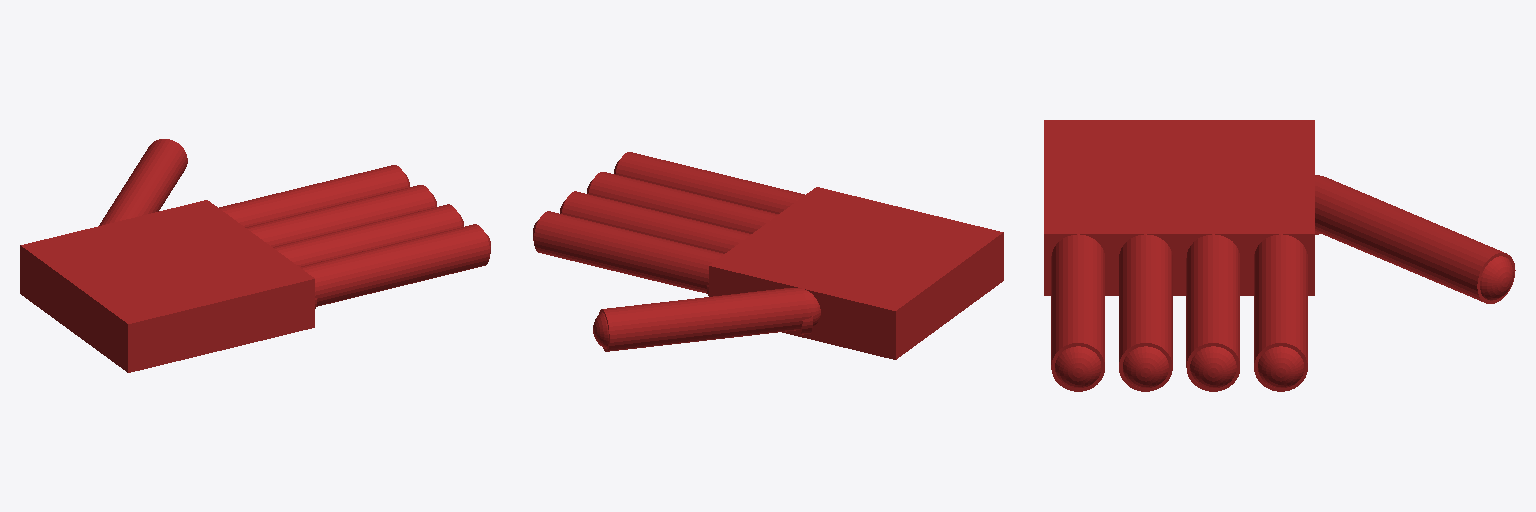
--- Render facts (derived) ---
3 views of the same robot in one strip: view 1: azimuth 30°, elevation 25°; view 2: azimuth 150°, elevation 25°; view 3: azimuth 270°, elevation 25° (orthographic).
Model starfish_test with 107 links and 106 joints (50 revolute, 56 fixed), rooted at base_link, posed every joint at zero.
Visible links, largest first — view 1: base_link0, Man0Act0Seg6, Man0Act0Seg8, Man0Act0Seg2, Man0Act0Seg4, Man0Act0Seg5, Man0Act0Seg9, Man0Act0Seg3, Man0Act0Seg7, Man0Act0Seg1; view 2: base_link0, Man4Act0Seg4, Man4Act0Seg2, Man4Act0Seg3, Man4Act0Seg7, Man4Act0Seg8, Man4Act0Seg5, Man4Act0Seg9, Man4Act0Seg6, Man4Act0Seg1, Man3Act0Seg6, Man3Act0Seg8 (+7 smaller); view 3: base_link0, Man2Act0Seg10helper_shape, Man0Act0Seg10helper_shape, Man1Act0Seg10helper_shape, Man3Act0Seg10helper_shape, Man4Act0Seg10helper_shape, Man4Act0Seg6, Man4Act0Seg7, Man4Act0Seg4, Man4Act0Seg5, Man4Act0Seg2, Man4Act0Seg3 (+28 smaller).
Link boxes in pixels (left/top/right/bottom): base_link0: left=20, top=200, right=314, bottom=372; Man0Act0Seg6: left=391, top=240, right=424, bottom=285; Man0Act0Seg8: left=429, top=231, right=461, bottom=276; Man0Act0Seg2: left=317, top=258, right=349, bottom=303; Man0Act0Seg4: left=354, top=249, right=386, bottom=294; Man0Act0Seg5: left=375, top=245, right=405, bottom=290; Man0Act0Seg9: left=449, top=226, right=480, bottom=272; Man0Act0Seg3: left=337, top=254, right=368, bottom=299; Man0Act0Seg7: left=412, top=235, right=442, bottom=281; Man0Act0Seg1: left=300, top=263, right=330, bottom=306; base_link0: left=709, top=187, right=1003, bottom=359; Man4Act0Seg4: left=717, top=294, right=744, bottom=338; Man4Act0Seg2: left=759, top=289, right=786, bottom=333; Man4Act0Seg3: left=739, top=291, right=765, bottom=336; Man4Act0Seg7: left=655, top=301, right=682, bottom=345; Man4Act0Seg8: left=634, top=303, right=661, bottom=347; Man4Act0Seg5: left=696, top=296, right=723, bottom=340; Man4Act0Seg9: left=614, top=306, right=640, bottom=350; Man4Act0Seg6: left=676, top=298, right=703, bottom=343; Man4Act0Seg1: left=780, top=288, right=807, bottom=331; Man3Act0Seg6: left=599, top=227, right=632, bottom=272; Man3Act0Seg8: left=562, top=218, right=594, bottom=263; base_link0: left=1044, top=120, right=1314, bottom=295; Man2Act0Seg10helper_shape: left=1190, top=346, right=1236, bottom=387; Man0Act0Seg10helper_shape: left=1055, top=346, right=1101, bottom=387; Man1Act0Seg10helper_shape: left=1123, top=346, right=1168, bottom=387; Man3Act0Seg10helper_shape: left=1258, top=346, right=1303, bottom=387; Man4Act0Seg10helper_shape: left=1480, top=256, right=1513, bottom=300; Man4Act0Seg6: left=1391, top=216, right=1437, bottom=273; Man4Act0Seg7: left=1410, top=224, right=1456, bottom=282; Man4Act0Seg4: left=1353, top=200, right=1399, bottom=257; Man4Act0Seg5: left=1372, top=208, right=1418, bottom=265; Man4Act0Seg2: left=1315, top=184, right=1359, bottom=241; Man4Act0Seg3: left=1334, top=192, right=1380, bottom=249.
Size in the robot's own frame: 4 by 3.48 by 0.5 metres.
Geometry: primitives only (box / cylinder / sphere), no mesh files.

robot.urdf — starfish_test:
<?xml version='1.0' encoding='utf-8'?>
<robot name="starfish_test">
  <link name="base_link" />
  <link name="base_link0">
    <visual>
      <origin rpy="0 0 0" xyz="0.0 0.0 0.25" />
      <geometry>
        <box size="2 2 0.5" />
      </geometry>
      <material name="base_color">
        <color rgba="0.7 0.2 0.2 1" />
      </material>
    </visual>
    <collision>
      <origin rpy="0 0 0" xyz="0.0 0.0 0.25" />
      <geometry>
        <box size="2 2 0.5" />
      </geometry>
    </collision>
    <inertial>
      <mass value="1.0" />
      <inertia ixx="1" ixy="0" ixz="0" iyy="1" iyz="0" izz="1" />
    </inertial>
  </link>
  <joint name="base_link_to_base_link0_fixed" type="fixed">
    <parent link="base_link" />
    <child link="base_link0" />
    <origin rpy="0 0 0" xyz="0 0 0" />
    <axis xyz="1 0 0" />
  </joint>
  <link name="Man0Act0Seg0">
    <visual>
      <origin rpy="0.0 1.5707963267948966 0.0" xyz="1.0 -0.75 0.05" />
      <geometry>
        <cylinder length="0.1" radius="0.2" />
      </geometry>
      <material name="purple">
        <color rgba="0.7 0.2 0.2 1" />
      </material>
    </visual>
    <collision>
      <origin rpy="0.0 1.5707963267948966 0.0" xyz="1.0 -0.75 0.05" />
      <geometry>
        <cylinder length="0.1" radius="0.2" />
      </geometry>
    </collision>
    <inertial>
      <mass value="0.00294" />
      <inertia ixx="0.0152488" ixy="0" ixz="0" iyy="0.0152488" iyz="0" izz="0.0152488" />
    </inertial>
  </link>
  <joint name="base_link_to_Man0Act0Seg0" type="fixed">
    <parent link="base_link" />
    <child link="Man0Act0Seg0" />
    <origin rpy="0.0 0.0 0.0" xyz="0.0 0.0 0.2" />
    <axis xyz="1 0 0" />
    <limit effort="100" lower="-3.141592" upper="3.141592" velocity="3" />
  </joint>
  <link name="Man0Act0Seg1">
    <visual>
      <origin rpy="0.0 0.0 0.0" xyz="0.0 0.0 0.1" />
      <geometry>
        <cylinder length="0.2" radius="0.2" />
      </geometry>
      <material name="purple">
        <color rgba="0.7 0.2 0.2 1" />
      </material>
    </visual>
    <collision>
      <origin rpy="0.0 0.0 0.0" xyz="0.0 0.0 0.1" />
      <geometry>
        <cylinder length="0.2" radius="0.2" />
      </geometry>
    </collision>
    <inertial>
      <mass value="0.00294" />
      <inertia ixx="0.0152488" ixy="0" ixz="0" iyy="0.0152488" iyz="0" izz="0.0152488" />
    </inertial>
  </link>
  <joint name="Man0Act0Seg0_to_Man0Act0Seg1_ax0" type="revolute">
    <parent link="Man0Act0Seg0" />
    <child link="Man0Act0Seg1" />
    <origin rpy="0.0 1.5707963267948966 0.0" xyz="1.0 -0.75 0.1" />
    <axis xyz="1 0 0" />
    <limit effort="100" lower="-3.141592" upper="3.141592" velocity="3" />
  </joint>
  <link name="Man0Act0Seg1helper_shape">
    <visual>
      <origin rpy="0 0 0" xyz="0 0 0.0" />
      <geometry>
        <sphere radius="0.2" />
      </geometry>
      <material name="purple">
        <color rgba="0.7 0.2 0.2 1" />
      </material>
    </visual>
    <collision>
      <origin rpy="0 0 0" xyz="0 0 0.0" />
      <geometry>
        <sphere radius="0.2" />
      </geometry>
    </collision>
    <inertial>
      <mass value="2.94e-06" />
      <inertia ixx="1.52488e-05" ixy="0.0" ixz="0.0" iyy="1.52488e-05" iyz="0.0" izz="1.52488e-05" />
    </inertial>
  </link>
  <joint name="Man0Act0Seg0_to_Man0Act0Seg1_ax0helper_shape" type="fixed">
    <parent link="Man0Act0Seg0" />
    <child link="Man0Act0Seg1helper_shape" />
    <origin rpy="0.0 1.5707963267948966 0.0" xyz="1.0 -0.75 0.1" />
    <axis xyz="1 0 0" />
  </joint>
  <link name="Man0Act0Seg2">
    <visual>
      <origin rpy="0 0 0" xyz="0 0 0.1" />
      <geometry>
        <cylinder length="0.2" radius="0.2" />
      </geometry>
      <material name="purple">
        <color rgba="0.7 0.2 0.2 1" />
      </material>
    </visual>
    <collision>
      <origin rpy="0 0 0" xyz="0 0 0.1" />
      <geometry>
        <cylinder length="0.2" radius="0.2" />
      </geometry>
    </collision>
    <inertial>
      <mass value="0.00294" />
      <inertia ixx="0.0152488" ixy="0" ixz="0" iyy="0.0152488" iyz="0" izz="0.0152488" />
    </inertial>
  </link>
  <joint name="Man0Act0Seg1_to_Man0Act0Seg2_ax1" type="revolute">
    <parent link="Man0Act0Seg1" />
    <child link="Man0Act0Seg2" />
    <origin rpy="0.0 0.0 0.0" xyz="0.0 0.0 0.2" />
    <axis xyz="0 1 0" />
    <limit effort="100" lower="-3.141592" upper="3.141592" velocity="3" />
  </joint>
  <link name="Man0Act0Seg2helper_shape">
    <visual>
      <origin rpy="0 0 0" xyz="0 0 0.0" />
      <geometry>
        <sphere radius="0.2" />
      </geometry>
      <material name="purple">
        <color rgba="0.7 0.2 0.2 1" />
      </material>
    </visual>
    <collision>
      <origin rpy="0 0 0" xyz="0 0 0.0" />
      <geometry>
        <sphere radius="0.2" />
      </geometry>
    </collision>
    <inertial>
      <mass value="2.94e-06" />
      <inertia ixx="1.52488e-05" ixy="0.0" ixz="0.0" iyy="1.52488e-05" iyz="0.0" izz="1.52488e-05" />
    </inertial>
  </link>
  <joint name="Man0Act0Seg1_to_Man0Act0Seg2_ax1helper_shape" type="fixed">
    <parent link="Man0Act0Seg1" />
    <child link="Man0Act0Seg2helper_shape" />
    <origin rpy="0.0 0.0 0.0" xyz="0.0 0.0 0.2" />
    <axis xyz="1 0 0" />
  </joint>
  <link name="Man0Act0Seg3">
    <visual>
      <origin rpy="0.0 0.0 0.0" xyz="0.0 0.0 0.1" />
      <geometry>
        <cylinder length="0.2" radius="0.2" />
      </geometry>
      <material name="purple">
        <color rgba="0.7 0.2 0.2 1" />
      </material>
    </visual>
    <collision>
      <origin rpy="0.0 0.0 0.0" xyz="0.0 0.0 0.1" />
      <geometry>
        <cylinder length="0.2" radius="0.2" />
      </geometry>
    </collision>
    <inertial>
      <mass value="0.00294" />
      <inertia ixx="0.0152488" ixy="0" ixz="0" iyy="0.0152488" iyz="0" izz="0.0152488" />
    </inertial>
  </link>
  <joint name="Man0Act0Seg2_to_Man0Act0Seg3_ax0" type="revolute">
    <parent link="Man0Act0Seg2" />
    <child link="Man0Act0Seg3" />
    <origin rpy="0.0 0.0 0.0" xyz="0.0 0.0 0.2" />
    <axis xyz="1 0 0" />
    <limit effort="100" lower="-3.141592" upper="3.141592" velocity="3" />
  </joint>
  <link name="Man0Act0Seg3helper_shape">
    <visual>
      <origin rpy="0 0 0" xyz="0 0 0.0" />
      <geometry>
        <sphere radius="0.2" />
      </geometry>
      <material name="purple">
        <color rgba="0.7 0.2 0.2 1" />
      </material>
    </visual>
    <collision>
      <origin rpy="0 0 0" xyz="0 0 0.0" />
      <geometry>
        <sphere radius="0.2" />
      </geometry>
    </collision>
    <inertial>
      <mass value="2.94e-06" />
      <inertia ixx="1.52488e-05" ixy="0.0" ixz="0.0" iyy="1.52488e-05" iyz="0.0" izz="1.52488e-05" />
    </inertial>
  </link>
  <joint name="Man0Act0Seg2_to_Man0Act0Seg3_ax0helper_shape" type="fixed">
    <parent link="Man0Act0Seg2" />
    <child link="Man0Act0Seg3helper_shape" />
    <origin rpy="0 0 0" xyz="0 0 0.2" />
    <axis xyz="1 0 0" />
  </joint>
  <link name="Man0Act0Seg4">
    <visual>
      <origin rpy="0 0 0" xyz="0 0 0.1" />
      <geometry>
        <cylinder length="0.2" radius="0.2" />
      </geometry>
      <material name="purple">
        <color rgba="0.7 0.2 0.2 1" />
      </material>
    </visual>
    <collision>
      <origin rpy="0 0 0" xyz="0 0 0.1" />
      <geometry>
        <cylinder length="0.2" radius="0.2" />
      </geometry>
    </collision>
    <inertial>
      <mass value="0.00294" />
      <inertia ixx="0.0152488" ixy="0" ixz="0" iyy="0.0152488" iyz="0" izz="0.0152488" />
    </inertial>
  </link>
  <joint name="Man0Act0Seg3_to_Man0Act0Seg4_ax1" type="revolute">
    <parent link="Man0Act0Seg3" />
    <child link="Man0Act0Seg4" />
    <origin rpy="0.0 0.0 0.0" xyz="0.0 0.0 0.2" />
    <axis xyz="0 1 0" />
    <limit effort="100" lower="-3.141592" upper="3.141592" velocity="3" />
  </joint>
  <link name="Man0Act0Seg4helper_shape">
    <visual>
      <origin rpy="0 0 0" xyz="0 0 0.0" />
      <geometry>
        <sphere radius="0.2" />
      </geometry>
      <material name="purple">
        <color rgba="0.7 0.2 0.2 1" />
      </material>
    </visual>
    <collision>
      <origin rpy="0 0 0" xyz="0 0 0.0" />
      <geometry>
        <sphere radius="0.2" />
      </geometry>
    </collision>
    <inertial>
      <mass value="2.94e-06" />
      <inertia ixx="1.52488e-05" ixy="0.0" ixz="0.0" iyy="1.52488e-05" iyz="0.0" izz="1.52488e-05" />
    </inertial>
  </link>
  <joint name="Man0Act0Seg3_to_Man0Act0Seg4_ax1helper_shape" type="fixed">
    <parent link="Man0Act0Seg3" />
    <child link="Man0Act0Seg4helper_shape" />
    <origin rpy="0.0 0.0 0.0" xyz="0.0 0.0 0.2" />
    <axis xyz="1 0 0" />
  </joint>
  <link name="Man0Act0Seg5">
    <visual>
      <origin rpy="0.0 0.0 0.0" xyz="0.0 0.0 0.1" />
      <geometry>
        <cylinder length="0.2" radius="0.2" />
      </geometry>
      <material name="purple">
        <color rgba="0.7 0.2 0.2 1" />
      </material>
    </visual>
    <collision>
      <origin rpy="0.0 0.0 0.0" xyz="0.0 0.0 0.1" />
      <geometry>
        <cylinder length="0.2" radius="0.2" />
      </geometry>
    </collision>
    <inertial>
      <mass value="0.00294" />
      <inertia ixx="0.0152488" ixy="0" ixz="0" iyy="0.0152488" iyz="0" izz="0.0152488" />
    </inertial>
  </link>
  <joint name="Man0Act0Seg4_to_Man0Act0Seg5_ax0" type="revolute">
    <parent link="Man0Act0Seg4" />
    <child link="Man0Act0Seg5" />
    <origin rpy="0.0 0.0 0.0" xyz="0.0 0.0 0.2" />
    <axis xyz="1 0 0" />
    <limit effort="100" lower="-3.141592" upper="3.141592" velocity="3" />
  </joint>
  <link name="Man0Act0Seg5helper_shape">
    <visual>
      <origin rpy="0 0 0" xyz="0 0 0.0" />
      <geometry>
        <sphere radius="0.2" />
      </geometry>
      <material name="purple">
        <color rgba="0.7 0.2 0.2 1" />
      </material>
    </visual>
    <collision>
      <origin rpy="0 0 0" xyz="0 0 0.0" />
      <geometry>
        <sphere radius="0.2" />
      </geometry>
    </collision>
    <inertial>
      <mass value="2.94e-06" />
      <inertia ixx="1.52488e-05" ixy="0.0" ixz="0.0" iyy="1.52488e-05" iyz="0.0" izz="1.52488e-05" />
    </inertial>
  </link>
  <joint name="Man0Act0Seg4_to_Man0Act0Seg5_ax0helper_shape" type="fixed">
    <parent link="Man0Act0Seg4" />
    <child link="Man0Act0Seg5helper_shape" />
    <origin rpy="0 0 0" xyz="0 0 0.2" />
    <axis xyz="1 0 0" />
  </joint>
  <link name="Man0Act0Seg6">
    <visual>
      <origin rpy="0 0 0" xyz="0 0 0.1" />
      <geometry>
        <cylinder length="0.2" radius="0.2" />
      </geometry>
      <material name="purple">
        <color rgba="0.7 0.2 0.2 1" />
      </material>
    </visual>
    <collision>
      <origin rpy="0 0 0" xyz="0 0 0.1" />
      <geometry>
        <cylinder length="0.2" radius="0.2" />
      </geometry>
    </collision>
    <inertial>
      <mass value="0.00294" />
      <inertia ixx="0.0152488" ixy="0" ixz="0" iyy="0.0152488" iyz="0" izz="0.0152488" />
    </inertial>
  </link>
  <joint name="Man0Act0Seg5_to_Man0Act0Seg6_ax1" type="revolute">
    <parent link="Man0Act0Seg5" />
    <child link="Man0Act0Seg6" />
    <origin rpy="0.0 0.0 0.0" xyz="0.0 0.0 0.2" />
    <axis xyz="0 1 0" />
    <limit effort="100" lower="-3.141592" upper="3.141592" velocity="3" />
  </joint>
  <link name="Man0Act0Seg6helper_shape">
    <visual>
      <origin rpy="0 0 0" xyz="0 0 0.0" />
      <geometry>
        <sphere radius="0.2" />
      </geometry>
      <material name="purple">
        <color rgba="0.7 0.2 0.2 1" />
      </material>
    </visual>
    <collision>
      <origin rpy="0 0 0" xyz="0 0 0.0" />
      <geometry>
        <sphere radius="0.2" />
      </geometry>
    </collision>
    <inertial>
      <mass value="2.94e-06" />
      <inertia ixx="1.52488e-05" ixy="0.0" ixz="0.0" iyy="1.52488e-05" iyz="0.0" izz="1.52488e-05" />
    </inertial>
  </link>
  <joint name="Man0Act0Seg5_to_Man0Act0Seg6_ax1helper_shape" type="fixed">
    <parent link="Man0Act0Seg5" />
    <child link="Man0Act0Seg6helper_shape" />
    <origin rpy="0.0 0.0 0.0" xyz="0.0 0.0 0.2" />
    <axis xyz="1 0 0" />
  </joint>
  <link name="Man0Act0Seg7">
    <visual>
      <origin rpy="0.0 0.0 0.0" xyz="0.0 0.0 0.1" />
      <geometry>
        <cylinder length="0.2" radius="0.2" />
      </geometry>
      <material name="purple">
        <color rgba="0.7 0.2 0.2 1" />
      </material>
    </visual>
    <collision>
      <origin rpy="0.0 0.0 0.0" xyz="0.0 0.0 0.1" />
      <geometry>
        <cylinder length="0.2" radius="0.2" />
      </geometry>
    </collision>
    <inertial>
      <mass value="0.00294" />
      <inertia ixx="0.0152488" ixy="0" ixz="0" iyy="0.0152488" iyz="0" izz="0.0152488" />
    </inertial>
  </link>
  <joint name="Man0Act0Seg6_to_Man0Act0Seg7_ax0" type="revolute">
    <parent link="Man0Act0Seg6" />
    <child link="Man0Act0Seg7" />
    <origin rpy="0.0 0.0 0.0" xyz="0.0 0.0 0.2" />
    <axis xyz="1 0 0" />
    <limit effort="100" lower="-3.141592" upper="3.141592" velocity="3" />
  </joint>
  <link name="Man0Act0Seg7helper_shape">
    <visual>
      <origin rpy="0 0 0" xyz="0 0 0.0" />
      <geometry>
        <sphere radius="0.2" />
      </geometry>
      <material name="purple">
        <color rgba="0.7 0.2 0.2 1" />
      </material>
    </visual>
    <collision>
      <origin rpy="0 0 0" xyz="0 0 0.0" />
      <geometry>
        <sphere radius="0.2" />
      </geometry>
    </collision>
    <inertial>
      <mass value="2.94e-06" />
      <inertia ixx="1.52488e-05" ixy="0.0" ixz="0.0" iyy="1.52488e-05" iyz="0.0" izz="1.52488e-05" />
    </inertial>
  </link>
  <joint name="Man0Act0Seg6_to_Man0Act0Seg7_ax0helper_shape" type="fixed">
    <parent link="Man0Act0Seg6" />
    <child link="Man0Act0Seg7helper_shape" />
    <origin rpy="0 0 0" xyz="0 0 0.2" />
    <axis xyz="1 0 0" />
  </joint>
  <link name="Man0Act0Seg8">
    <visual>
      <origin rpy="0 0 0" xyz="0 0 0.1" />
      <geometry>
        <cylinder length="0.2" radius="0.2" />
      </geometry>
      <material name="purple">
        <color rgba="0.7 0.2 0.2 1" />
      </material>
    </visual>
    <collision>
      <origin rpy="0 0 0" xyz="0 0 0.1" />
      <geometry>
        <cylinder length="0.2" radius="0.2" />
      </geometry>
    </collision>
    <inertial>
      <mass value="0.00294" />
      <inertia ixx="0.0152488" ixy="0" ixz="0" iyy="0.0152488" iyz="0" izz="0.0152488" />
    </inertial>
  </link>
  <joint name="Man0Act0Seg7_to_Man0Act0Seg8_ax1" type="revolute">
    <parent link="Man0Act0Seg7" />
    <child link="Man0Act0Seg8" />
    <origin rpy="0.0 0.0 0.0" xyz="0.0 0.0 0.2" />
    <axis xyz="0 1 0" />
    <limit effort="100" lower="-3.141592" upper="3.141592" velocity="3" />
  </joint>
  <link name="Man0Act0Seg8helper_shape">
    <visual>
      <origin rpy="0 0 0" xyz="0 0 0.0" />
      <geometry>
        <sphere radius="0.2" />
      </geometry>
      <material name="purple">
        <color rgba="0.7 0.2 0.2 1" />
      </material>
    </visual>
    <collision>
      <origin rpy="0 0 0" xyz="0 0 0.0" />
      <geometry>
        <sphere radius="0.2" />
      </geometry>
    </collision>
    <inertial>
      <mass value="2.94e-06" />
      <inertia ixx="1.52488e-05" ixy="0.0" ixz="0.0" iyy="1.52488e-05" iyz="0.0" izz="1.52488e-05" />
    </inertial>
  </link>
  <joint name="Man0Act0Seg7_to_Man0Act0Seg8_ax1helper_shape" type="fixed">
    <parent link="Man0Act0Seg7" />
    <child link="Man0Act0Seg8helper_shape" />
    <origin rpy="0.0 0.0 0.0" xyz="0.0 0.0 0.2" />
    <axis xyz="1 0 0" />
  </joint>
  <link name="Man0Act0Seg9">
    <visual>
      <origin rpy="0.0 0.0 0.0" xyz="0.0 0.0 0.1" />
      <geometry>
        <cylinder length="0.2" radius="0.2" />
      </geometry>
      <material name="purple">
        <color rgba="0.7 0.2 0.2 1" />
      </material>
    </visual>
    <collision>
      <origin rpy="0.0 0.0 0.0" xyz="0.0 0.0 0.1" />
      <geometry>
        <cylinder length="0.2" radius="0.2" />
      </geometry>
    </collision>
    <inertial>
      <mass value="0.00294" />
      <inertia ixx="0.0152488" ixy="0" ixz="0" iyy="0.0152488" iyz="0" izz="0.0152488" />
    </inertial>
  </link>
  <joint name="Man0Act0Seg8_to_Man0Act0Seg9_ax0" type="revolute">
    <parent link="Man0Act0Seg8" />
    <child link="Man0Act0Seg9" />
    <origin rpy="0.0 0.0 0.0" xyz="0.0 0.0 0.2" />
    <axis xyz="1 0 0" />
    <limit effort="100" lower="-3.141592" upper="3.141592" velocity="3" />
  </joint>
  <link name="Man0Act0Seg9helper_shape">
    <visual>
      <origin rpy="0 0 0" xyz="0 0 0.0" />
      <geometry>
        <sphere radius="0.2" />
      </geometry>
      <material name="purple">
        <color rgba="0.7 0.2 0.2 1" />
      </material>
    </visual>
    <collision>
      <origin rpy="0 0 0" xyz="0 0 0.0" />
      <geometry>
        <sphere radius="0.2" />
      </geometry>
    </collision>
    <inertial>
      <mass value="2.94e-06" />
      <inertia ixx="1.52488e-05" ixy="0.0" ixz="0.0" iyy="1.52488e-05" iyz="0.0" izz="1.52488e-05" />
    </inertial>
  </link>
  <joint name="Man0Act0Seg8_to_Man0Act0Seg9_ax0helper_shape" type="fixed">
    <parent link="Man0Act0Seg8" />
    <child link="Man0Act0Seg9helper_shape" />
    <origin rpy="0 0 0" xyz="0 0 0.2" />
    <axis xyz="1 0 0" />
  </joint>
  <link name="Man0Act0Seg10">
    <visual>
      <origin rpy="0 0 0" xyz="0 0 0.05" />
      <geometry>
        <cylinder length="0.1" radius="0.2" />
      </geometry>
      <material name="purple">
        <color rgba="0.7 0.2 0.2 1" />
      </material>
    </visual>
    <collision>
      <origin rpy="0 0 0" xyz="0 0 0.05" />
      <geometry>
        <cylinder length="0.1" radius="0.2" />
      </geometry>
    </collision>
    <inertial>
      <mass value="0.00294" />
      <inertia ixx="0.0152488" ixy="0" ixz="0" iyy="0.0152488" iyz="0" izz="0.0152488" />
    </inertial>
  </link>
  <joint name="Man0Act0Seg9_to_Man0Act0Seg10_ax1" type="revolute">
    <parent link="Man0Act0Seg9" />
    <child link="Man0Act0Seg10" />
    <origin rpy="0.0 0.0 0.0" xyz="0.0 0.0 0.2" />
    <axis xyz="0 1 0" />
    <limit effort="100" lower="-3.141592" upper="3.141592" velocity="3" />
  </joint>
  <link name="Man0Act0Seg10helper_shape">
    <visual>
      <origin rpy="0 0 0" xyz="0 0 0.0" />
      <geometry>
        <sphere radius="0.2" />
      </geometry>
      <material name="purple">
        <color rgba="0.7 0.2 0.2 1" />
      </material>
    </visual>
    <collision>
      <origin rpy="0 0 0" xyz="0 0 0.0" />
      <geometry>
        <sphere radius="0.2" />
      </geometry>
    </collision>
    <inertial>
      <mass value="2.94e-06" />
      <inertia ixx="1.52488e-05" ixy="0.0" ixz="0.0" iyy="1.52488e-05" iyz="0.0" izz="1.52488e-05" />
    </inertial>
  </link>
  <joint name="Man0Act0Seg9_to_Man0Act0Seg10_ax1helper_shape" type="fixed">
    <parent link="Man0Act0Seg9" />
    <child link="Man0Act0Seg10helper_shape" />
    <origin rpy="0.0 0.0 0.0" xyz="0.0 0.0 0.2" />
    <axis xyz="1 0 0" />
  </joint>
  <link name="Man1Act0Seg0">
    <visual>
      <origin rpy="0.0 1.5707963267948966 0.0" xyz="1.0 -0.25 0.05" />
      <geometry>
        <cylinder length="0.1" radius="0.2" />
      </geometry>
      <material name="purple">
        <color rgba="0.7 0.2 0.2 1" />
      </material>
    </visual>
    <collision>
      <origin rpy="0.0 1.5707963267948966 0.0" xyz="1.0 -0.25 0.05" />
      <geometry>
        <cylinder length="0.1" radius="0.2" />
      </geometry>
    </collision>
    <inertial>
      <mass value="0.00294" />
      <inertia ixx="0.0152488" ixy="0" ixz="0" iyy="0.0152488" iyz="0" izz="0.0152488" />
    </inertial>
  </link>
  <joint name="base_link_to_Man1Act0Seg0" type="fixed">
    <parent link="base_link" />
    <child link="Man1Act0Seg0" />
    <origin rpy="0.0 0.0 0.0" xyz="0.0 0.0 0.2" />
    <axis xyz="1 0 0" />
    <limit effort="100" lower="-3.141592" upper="3.141592" velocity="3" />
  </joint>
  <link name="Man1Act0Seg1">
    <visual>
      <origin rpy="0.0 0.0 0.0" xyz="0.0 0.0 0.1" />
      <geometry>
        <cylinder length="0.2" radius="0.2" />
      </geometry>
      <material name="purple">
        <color rgba="0.7 0.2 0.2 1" />
      </material>
    </visual>
    <collision>
      <origin rpy="0.0 0.0 0.0" xyz="0.0 0.0 0.1" />
      <geometry>
        <cylinder length="0.2" radius="0.2" />
      </geometry>
    </collision>
    <inertial>
      <mass value="0.00294" />
      <inertia ixx="0.0152488" ixy="0" ixz="0" iyy="0.0152488" iyz="0" izz="0.0152488" />
    </inertial>
  </link>
  <joint name="Man1Act0Seg0_to_Man1Act0Seg1_ax0" type="revolute">
    <parent link="Man1Act0Seg0" />
    <child link="Man1Act0Seg1" />
    <origin rpy="0.0 1.5707963267948966 0.0" xyz="1.0 -0.25 0.1" />
    <axis xyz="1 0 0" />
    <limit effort="100" lower="-3.141592" upper="3.141592" velocity="3" />
  </joint>
  <link name="Man1Act0Seg1helper_shape">
    <visual>
      <origin rpy="0 0 0" xyz="0 0 0.0" />
      <geometry>
        <sphere radius="0.2" />
      </geometry>
      <material name="purple">
        <color rgba="0.7 0.2 0.2 1" />
      </material>
    </visual>
    <collision>
      <origin rpy="0 0 0" xyz="0 0 0.0" />
      <geometry>
        <sphere radius="0.2" />
      </geometry>
    </collision>
    <inertial>
      <mass value="2.94e-06" />
      <inertia ixx="1.52488e-05" ixy="0.0" ixz="0.0" iyy="1.52488e-05" iyz="0.0" izz="1.52488e-05" />
    </inertial>
  </link>
  <joint name="Man1Act0Seg0_to_Man1Act0Seg1_ax0helper_shape" type="fixed">
    <parent link="Man1Act0Seg0" />
    <child link="Man1Act0Seg1helper_shape" />
    <origin rpy="0.0 1.5707963267948966 0.0" xyz="1.0 -0.25 0.1" />
    <axis xyz="1 0 0" />
  </joint>
  <link name="Man1Act0Seg2">
    <visual>
      <origin rpy="0 0 0" xyz="0 0 0.1" />
      <geometry>
        <cylinder length="0.2" radius="0.2" />
      </geometry>
      <material name="purple">
        <color rgba="0.7 0.2 0.2 1" />
      </material>
    </visual>
    <collision>
      <origin rpy="0 0 0" xyz="0 0 0.1" />
      <geometry>
        <cylinder length="0.2" radius="0.2" />
      </geometry>
    </collision>
    <inertial>
      <mass value="0.00294" />
      <inertia ixx="0.0152488" ixy="0" ixz="0" iyy="0.0152488" iyz="0" izz="0.0152488" />
    </inertial>
  </link>
  <joint name="Man1Act0Seg1_to_Man1Act0Seg2_ax1" type="revolute">
    <parent link="Man1Act0Seg1" />
    <child link="Man1Act0Seg2" />
    <origin rpy="0.0 0.0 0.0" xyz="0.0 0.0 0.2" />
    <axis xyz="0 1 0" />
    <limit effort="100" lower="-3.141592" upper="3.141592" velocity="3" />
  </joint>
  <link name="Man1Act0Seg2helper_shape">
    <visual>
      <origin rpy="0 0 0" xyz="0 0 0.0" />
      <geometry>
        <sphere radius="0.2" />
      </geometry>
      <material name="purple">
        <color rgba="0.7 0.2 0.2 1" />
      </material>
    </visual>
    <collision>
      <origin rpy="0 0 0" xyz="0 0 0.0" />
      <geometry>
        <sphere radius="0.2" />
      </geometry>
    </collision>
    <inertial>
      <mass value="2.94e-06" />
      <inertia ixx="1.52488e-05" ixy="0.0" ixz="0.0" iyy="1.52488e-05" iyz="0.0" izz="1.52488e-05" />
    </inertial>
  </link>
  <joint name="Man1Act0Seg1_to_Man1Act0Seg2_ax1helper_shape" type="fixed">
    <parent link="Man1Act0Seg1" />
    <child link="Man1Act0Seg2helper_shape" />
    <origin rpy="0.0 0.0 0.0" xyz="0.0 0.0 0.2" />
    <axis xyz="1 0 0" />
  </joint>
  <link name="Man1Act0Seg3">
    <visual>
      <origin rpy="0.0 0.0 0.0" xyz="0.0 0.0 0.1" />
      <geometry>
        <cylinder length="0.2" radius="0.2" />
      </geometry>
      <material name="purple">
        <color rgba="0.7 0.2 0.2 1" />
      </material>
    </visual>
    <collision>
      <origin rpy="0.0 0.0 0.0" xyz="0.0 0.0 0.1" />
      <geometry>
        <cylinder length="0.2" radius="0.2" />
      </geometry>
    </collision>
    <inertial>
      <mass value="0.00294" />
      <inertia ixx="0.0152488" ixy="0" ixz="0" iyy="0.0152488" iyz="0" izz="0.0152488" />
    </inertial>
  </link>
  <joint name="Man1Act0Seg2_to_Man1Act0Seg3_ax0" type="revolute">
    <parent link="Man1Act0Seg2" />
    <child link="Man1Act0Seg3" />
    <origin rpy="0.0 0.0 0.0" xyz="0.0 0.0 0.2" />
    <axis xyz="1 0 0" />
    <limit effort="100" lower="-3.141592" upper="3.141592" velocity="3" />
  </joint>
  <link name="Man1Act0Seg3helper_shape">
    <visual>
      <origin rpy="0 0 0" xyz="0 0 0.0" />
      <geometry>
        <sphere radius="0.2" />
      </geometry>
      <material name="purple">
        <color rgba="0.7 0.2 0.2 1" />
      </material>
    </visual>
    <collision>
      <origin rpy="0 0 0" xyz="0 0 0.0" />
      <geometry>
        <sphere radius="0.2" />
      </geometry>
    </collision>
    <inertial>
      <mass value="2.94e-06" />
      <inertia ixx="1.52488e-05" ixy="0.0" ixz="0.0" iyy="1.52488e-05" iyz="0.0" izz="1.52488e-05" />
    </inertial>
  </link>
  <joint name="Man1Act0Seg2_to_Man1Act0Seg3_ax0helper_shape" type="fixed">
    <parent link="Man1Act0Seg2" />
    <child link="Man1Act0Seg3helper_shape" />
    <origin rpy="0 0 0" xyz="0 0 0.2" />
    <axis xyz="1 0 0" />
  </joint>
  <link name="Man1Act0Seg4">
    <visual>
      <origin rpy="0 0 0" xyz="0 0 0.1" />
      <geometry>
        <cylinder length="0.2" radius="0.2" />
      </geometry>
      <material name="purple">
        <color rgba="0.7 0.2 0.2 1" />
      </material>
    </visual>
    <collision>
      <origin rpy="0 0 0" xyz="0 0 0.1" />
      <geometry>
        <cylinder length="0.2" radius="0.2" />
      </geometry>
    </collision>
    <inertial>
      <mass value="0.00294" />
      <inertia ixx="0.0152488" ixy="0" ixz="0" iyy="0.0152488" iyz="0" izz="0.0152488" />
    </inertial>
  </link>
  <joint name="Man1Act0Seg3_to_Man1Act0Seg4_ax1" type="revolute">
    <parent link="Man1Act0Seg3" />
    <child link="Man1Act0Seg4" />
    <origin rpy="0.0 0.0 0.0" xyz="0.0 0.0 0.2" />
    <axis xyz="0 1 0" />
    <limit effort="100" lower="-3.141592" upper="3.141592" velocity="3" />
  </joint>
  <link name="Man1Act0Seg4helper_shape">
    <visual>
      <origin rpy="0 0 0" xyz="0 0 0.0" />
      <geometry>
        <sphere radius="0.2" />
      </geometry>
      <material name="purple">
        <color rgba="0.7 0.2 0.2 1" />
      </material>
    </visual>
    <collision>
      <origin rpy="0 0 0" xyz="0 0 0.0" />
      <geometry>
        <sphere radius="0.2" />
      </geometry>
    </collision>
    <inertial>
      <mass value="2.94e-06" />
      <inertia ixx="1.52488e-05" ixy="0.0" ixz="0.0" iyy="1.52488e-05" iyz="0.0" izz="1.52488e-05" />
    </inertial>
  </link>
  <joint name="Man1Act0Seg3_to_Man1Act0Seg4_ax1helper_shape" type="fixed">
    <parent link="Man1Act0Seg3" />
    <child link="Man1Act0Seg4helper_shape" />
    <origin rpy="0.0 0.0 0.0" xyz="0.0 0.0 0.2" />
    <axis xyz="1 0 0" />
  </joint>
  <link name="Man1Act0Seg5">
    <visual>
      <origin rpy="0.0 0.0 0.0" xyz="0.0 0.0 0.1" />
      <geometry>
        <cylinder length="0.2" radius="0.2" />
      </geometry>
      <material name="purple">
        <color rgba="0.7 0.2 0.2 1" />
      </material>
    </visual>
    <collision>
      <origin rpy="0.0 0.0 0.0" xyz="0.0 0.0 0.1" />
      <geometry>
        <cylinder length="0.2" radius="0.2" />
      </geometry>
    </collision>
    <inertial>
      <mass value="0.00294" />
      <inertia ixx="0.0152488" ixy="0" ixz="0" iyy="0.0152488" iyz="0" izz="0.0152488" />
    </inertial>
  </link>
  <joint name="Man1Act0Seg4_to_Man1Act0Seg5_ax0" type="revolute">
    <parent link="Man1Act0Seg4" />
    <child link="Man1Act0Seg5" />
    <origin rpy="0.0 0.0 0.0" xyz="0.0 0.0 0.2" />
    <axis xyz="1 0 0" />
    <limit effort="100" lower="-3.141592" upper="3.141592" velocity="3" />
  </joint>
  <link name="Man1Act0Seg5helper_shape">
    <visual>
      <origin rpy="0 0 0" xyz="0 0 0.0" />
      <geometry>
        <sphere radius="0.2" />
      </geometry>
      <material name="purple">
        <color rgba="0.7 0.2 0.2 1" />
      </material>
    </visual>
    <collision>
      <origin rpy="0 0 0" xyz="0 0 0.0" />
      <geometry>
        <sphere radius="0.2" />
      </geometry>
    </collision>
    <inertial>
      <mass value="2.94e-06" />
      <inertia ixx="1.52488e-05" ixy="0.0" ixz="0.0" iyy="1.52488e-05" iyz="0.0" izz="1.52488e-05" />
    </inertial>
  </link>
  <joint name="Man1Act0Seg4_to_Man1Act0Seg5_ax0helper_shape" type="fixed">
    <parent link="Man1Act0Seg4" />
    <child link="Man1Act0Seg5helper_shape" />
    <origin rpy="0 0 0" xyz="0 0 0.2" />
    <axis xyz="1 0 0" />
  </joint>
  <link name="Man1Act0Seg6">
    <visual>
      <origin rpy="0 0 0" xyz="0 0 0.1" />
      <geometry>
        <cylinder length="0.2" radius="0.2" />
      </geometry>
      <material name="purple">
        <color rgba="0.7 0.2 0.2 1" />
      </material>
    </visual>
    <collision>
      <origin rpy="0 0 0" xyz="0 0 0.1" />
      <geometry>
        <cylinder length="0.2" radius="0.2" />
      </geometry>
    </collision>
    <inertial>
      <mass value="0.00294" />
      <inertia ixx="0.0152488" ixy="0" ixz="0" iyy="0.0152488" iyz="0" izz="0.0152488" />
    </inertial>
  </link>
  <joint name="Man1Act0Seg5_to_Man1Act0Seg6_ax1" type="revolute">
    <parent link="Man1Act0Seg5" />
    <child link="Man1Act0Seg6" />
    <origin rpy="0.0 0.0 0.0" xyz="0.0 0.0 0.2" />
    <axis xyz="0 1 0" />
    <limit effort="100" lower="-3.141592" upper="3.141592" velocity="3" />
  </joint>
  <link name="Man1Act0Seg6helper_shape">
    <visual>
      <origin rpy="0 0 0" xyz="0 0 0.0" />
      <geometry>
        <sphere radius="0.2" />
      </geometry>
      <material name="purple">
        <color rgba="0.7 0.2 0.2 1" />
      </material>
    </visual>
    <collision>
      <origin rpy="0 0 0" xyz="0 0 0.0" />
      <geometry>
        <sphere radius="0.2" />
      </geometry>
    </collision>
    <inertial>
      <mass value="2.94e-06" />
      <inertia ixx="1.52488e-05" ixy="0.0" ixz="0.0" iyy="1.52488e-05" iyz="0.0" izz="1.52488e-05" />
    </inertial>
  </link>
  <joint name="Man1Act0Seg5_to_Man1Act0Seg6_ax1helper_shape" type="fixed">
    <parent link="Man1Act0Seg5" />
    <child link="Man1Act0Seg6helper_shape" />
    <origin rpy="0.0 0.0 0.0" xyz="0.0 0.0 0.2" />
    <axis xyz="1 0 0" />
  </joint>
  <link name="Man1Act0Seg7">
    <visual>
      <origin rpy="0.0 0.0 0.0" xyz="0.0 0.0 0.1" />
      <geometry>
        <cylinder length="0.2" radius="0.2" />
      </geometry>
      <material name="purple">
        <color rgba="0.7 0.2 0.2 1" />
      </material>
    </visual>
    <collision>
      <origin rpy="0.0 0.0 0.0" xyz="0.0 0.0 0.1" />
      <geometry>
        <cylinder length="0.2" radius="0.2" />
      </geometry>
    </collision>
    <inertial>
      <mass value="0.00294" />
      <inertia ixx="0.0152488" ixy="0" ixz="0" iyy="0.0152488" iyz="0" izz="0.0152488" />
    </inertial>
  </link>
  <joint name="Man1Act0Seg6_to_Man1Act0Seg7_ax0" type="revolute">
    <parent link="Man1Act0Seg6" />
    <child link="Man1Act0Seg7" />
    <origin rpy="0.0 0.0 0.0" xyz="0.0 0.0 0.2" />
    <axis xyz="1 0 0" />
    <limit effort="100" lower="-3.141592" upper="3.141592" velocity="3" />
  </joint>
  <link name="Man1Act0Seg7helper_shape">
    <visual>
      <origin rpy="0 0 0" xyz="0 0 0.0" />
      <geometry>
        <sphere radius="0.2" />
      </geometry>
      <material name="purple">
        <color rgba="0.7 0.2 0.2 1" />
      </material>
    </visual>
    <collision>
      <origin rpy="0 0 0" xyz="0 0 0.0" />
      <geometry>
        <sphere radius="0.2" />
      </geometry>
    </collision>
    <inertial>
      <mass value="2.94e-06" />
      <inertia ixx="1.52488e-05" ixy="0.0" ixz="0.0" iyy="1.52488e-05" iyz="0.0" izz="1.52488e-05" />
    </inertial>
  </link>
  <joint name="Man1Act0Seg6_to_Man1Act0Seg7_ax0helper_shape" type="fixed">
    <parent link="Man1Act0Seg6" />
    <child link="Man1Act0Seg7helper_shape" />
    <origin rpy="0 0 0" xyz="0 0 0.2" />
    <axis xyz="1 0 0" />
  </joint>
  <link name="Man1Act0Seg8">
    <visual>
      <origin rpy="0 0 0" xyz="0 0 0.1" />
      <geometry>
        <cylinder length="0.2" radius="0.2" />
      </geometry>
      <material name="purple">
        <color rgba="0.7 0.2 0.2 1" />
      </material>
    </visual>
    <collision>
      <origin rpy="0 0 0" xyz="0 0 0.1" />
      <geometry>
        <cylinder length="0.2" radius="0.2" />
      </geometry>
    </collision>
    <inertial>
      <mass value="0.00294" />
      <inertia ixx="0.0152488" ixy="0" ixz="0" iyy="0.0152488" iyz="0" izz="0.0152488" />
    </inertial>
  </link>
  <joint name="Man1Act0Seg7_to_Man1Act0Seg8_ax1" type="revolute">
    <parent link="Man1Act0Seg7" />
    <child link="Man1Act0Seg8" />
    <origin rpy="0.0 0.0 0.0" xyz="0.0 0.0 0.2" />
    <axis xyz="0 1 0" />
    <limit effort="100" lower="-3.141592" upper="3.141592" velocity="3" />
  </joint>
  <link name="Man1Act0Seg8helper_shape">
    <visual>
      <origin rpy="0 0 0" xyz="0 0 0.0" />
      <geometry>
        <sphere radius="0.2" />
      </geometry>
      <material name="purple">
        <color rgba="0.7 0.2 0.2 1" />
      </material>
    </visual>
    <collision>
      <origin rpy="0 0 0" xyz="0 0 0.0" />
      <geometry>
        <sphere radius="0.2" />
      </geometry>
    </collision>
    <inertial>
      <mass value="2.94e-06" />
      <inertia ixx="1.52488e-05" ixy="0.0" ixz="0.0" iyy="1.52488e-05" iyz="0.0" izz="1.52488e-05" />
    </inertial>
  </link>
  <joint name="Man1Act0Seg7_to_Man1Act0Seg8_ax1helper_shape" type="fixed">
    <parent link="Man1Act0Seg7" />
    <child link="Man1Act0Seg8helper_shape" />
    <origin rpy="0.0 0.0 0.0" xyz="0.0 0.0 0.2" />
    <axis xyz="1 0 0" />
  </joint>
  <link name="Man1Act0Seg9">
    <visual>
      <origin rpy="0.0 0.0 0.0" xyz="0.0 0.0 0.1" />
      <geometry>
        <cylinder length="0.2" radius="0.2" />
      </geometry>
      <material name="purple">
        <color rgba="0.7 0.2 0.2 1" />
      </material>
    </visual>
    <collision>
      <origin rpy="0.0 0.0 0.0" xyz="0.0 0.0 0.1" />
      <geometry>
        <cylinder length="0.2" radius="0.2" />
      </geometry>
    </collision>
    <inertial>
      <mass value="0.00294" />
      <inertia ixx="0.0152488" ixy="0" ixz="0" iyy="0.0152488" iyz="0" izz="0.0152488" />
    </inertial>
  </link>
  <joint name="Man1Act0Seg8_to_Man1Act0Seg9_ax0" type="revolute">
    <parent link="Man1Act0Seg8" />
    <child link="Man1Act0Seg9" />
    <origin rpy="0.0 0.0 0.0" xyz="0.0 0.0 0.2" />
    <axis xyz="1 0 0" />
    <limit effort="100" lower="-3.141592" upper="3.141592" velocity="3" />
  </joint>
  <link name="Man1Act0Seg9helper_shape">
    <visual>
      <origin rpy="0 0 0" xyz="0 0 0.0" />
      <geometry>
        <sphere radius="0.2" />
      </geometry>
      <material name="purple">
        <color rgba="0.7 0.2 0.2 1" />
      </material>
    </visual>
    <collision>
      <origin rpy="0 0 0" xyz="0 0 0.0" />
      <geometry>
        <sphere radius="0.2" />
      </geometry>
    </collision>
    <inertial>
      <mass value="2.94e-06" />
      <inertia ixx="1.52488e-05" ixy="0.0" ixz="0.0" iyy="1.52488e-05" iyz="0.0" izz="1.52488e-05" />
    </inertial>
  </link>
  <joint name="Man1Act0Seg8_to_Man1Act0Seg9_ax0helper_shape" type="fixed">
    <parent link="Man1Act0Seg8" />
    <child link="Man1Act0Seg9helper_shape" />
    <origin rpy="0 0 0" xyz="0 0 0.2" />
    <axis xyz="1 0 0" />
  </joint>
  <link name="Man1Act0Seg10">
    <visual>
      <origin rpy="0 0 0" xyz="0 0 0.05" />
      <geometry>
        <cylinder length="0.1" radius="0.2" />
      </geometry>
      <material name="purple">
        <color rgba="0.7 0.2 0.2 1" />
      </material>
    </visual>
    <collision>
      <origin rpy="0 0 0" xyz="0 0 0.05" />
      <geometry>
        <cylinder length="0.1" radius="0.2" />
      </geometry>
    </collision>
    <inertial>
      <mass value="0.00294" />
      <inertia ixx="0.0152488" ixy="0" ixz="0" iyy="0.0152488" iyz="0" izz="0.0152488" />
    </inertial>
  </link>
  <joint name="Man1Act0Seg9_to_Man1Act0Seg10_ax1" type="revolute">
    <parent link="Man1Act0Seg9" />
    <child link="Man1Act0Seg10" />
    <origin rpy="0.0 0.0 0.0" xyz="0.0 0.0 0.2" />
    <axis xyz="0 1 0" />
    <limit effort="100" lower="-3.141592" upper="3.141592" velocity="3" />
  </joint>
  <link name="Man1Act0Seg10helper_shape">
    <visual>
      <origin rpy="0 0 0" xyz="0 0 0.0" />
      <geometry>
        <sphere radius="0.2" />
      </geometry>
      <material name="purple">
        <color rgba="0.7 0.2 0.2 1" />
      </material>
    </visual>
    <collision>
      <origin rpy="0 0 0" xyz="0 0 0.0" />
      <geometry>
        <sphere radius="0.2" />
      </geometry>
    </collision>
    <inertial>
      <mass value="2.94e-06" />
      <inertia ixx="1.52488e-05" ixy="0.0" ixz="0.0" iyy="1.52488e-05" iyz="0.0" izz="1.52488e-05" />
    </inertial>
  </link>
  <joint name="Man1Act0Seg9_to_Man1Act0Seg10_ax1helper_shape" type="fixed">
    <parent link="Man1Act0Seg9" />
    <child link="Man1Act0Seg10helper_shape" />
    <origin rpy="0.0 0.0 0.0" xyz="0.0 0.0 0.2" />
    <axis xyz="1 0 0" />
  </joint>
  <link name="Man2Act0Seg0">
    <visual>
      <origin rpy="0.0 1.5707963267948966 0.0" xyz="1.0 0.25 0.05" />
      <geometry>
        <cylinder length="0.1" radius="0.2" />
      </geometry>
      <material name="purple">
        <color rgba="0.7 0.2 0.2 1" />
      </material>
    </visual>
    <collision>
      <origin rpy="0.0 1.5707963267948966 0.0" xyz="1.0 0.25 0.05" />
      <geometry>
        <cylinder length="0.1" radius="0.2" />
      </geometry>
    </collision>
    <inertial>
      <mass value="0.00294" />
      <inertia ixx="0.0152488" ixy="0" ixz="0" iyy="0.0152488" iyz="0" izz="0.0152488" />
    </inertial>
  </link>
  <joint name="base_link_to_Man2Act0Seg0" type="fixed">
    <parent link="base_link" />
    <child link="Man2Act0Seg0" />
    <origin rpy="0.0 0.0 0.0" xyz="0.0 0.0 0.2" />
    <axis xyz="1 0 0" />
    <limit effort="100" lower="-3.141592" upper="3.141592" velocity="3" />
  </joint>
  <link name="Man2Act0Seg1">
    <visual>
      <origin rpy="0.0 0.0 0.0" xyz="0.0 0.0 0.1" />
      <geometry>
        <cylinder length="0.2" radius="0.2" />
      </geometry>
      <material name="purple">
        <color rgba="0.7 0.2 0.2 1" />
      </material>
    </visual>
    <collision>
      <origin rpy="0.0 0.0 0.0" xyz="0.0 0.0 0.1" />
      <geometry>
        <cylinder length="0.2" radius="0.2" />
      </geometry>
    </collision>
    <inertial>
      <mass value="0.00294" />
      <inertia ixx="0.0152488" ixy="0" ixz="0" iyy="0.0152488" iyz="0" izz="0.0152488" />
    </inertial>
  </link>
  <joint name="Man2Act0Seg0_to_Man2Act0Seg1_ax0" type="revolute">
    <parent link="Man2Act0Seg0" />
    <child link="Man2Act0Seg1" />
    <origin rpy="0.0 1.5707963267948966 0.0" xyz="1.0 0.25 0.1" />
    <axis xyz="1 0 0" />
    <limit effort="100" lower="-3.141592" upper="3.141592" velocity="3" />
  </joint>
  <link name="Man2Act0Seg1helper_shape">
    <visual>
      <origin rpy="0 0 0" xyz="0 0 0.0" />
      <geometry>
        <sphere radius="0.2" />
      </geometry>
      <material name="purple">
        <color rgba="0.7 0.2 0.2 1" />
      </material>
    </visual>
    <collision>
      <origin rpy="0 0 0" xyz="0 0 0.0" />
      <geometry>
        <sphere radius="0.2" />
      </geometry>
    </collision>
    <inertial>
      <mass value="2.94e-06" />
      <inertia ixx="1.52488e-05" ixy="0.0" ixz="0.0" iyy="1.52488e-05" iyz="0.0" izz="1.52488e-05" />
    </inertial>
  </link>
  <joint name="Man2Act0Seg0_to_Man2Act0Seg1_ax0helper_shape" type="fixed">
    <parent link="Man2Act0Seg0" />
    <child link="Man2Act0Seg1helper_shape" />
    <origin rpy="0.0 1.5707963267948966 0.0" xyz="1.0 0.25 0.1" />
    <axis xyz="1 0 0" />
  </joint>
  <link name="Man2Act0Seg2">
    <visual>
      <origin rpy="0 0 0" xyz="0 0 0.1" />
      <geometry>
        <cylinder length="0.2" radius="0.2" />
      </geometry>
      <material name="purple">
        <color rgba="0.7 0.2 0.2 1" />
      </material>
    </visual>
    <collision>
      <origin rpy="0 0 0" xyz="0 0 0.1" />
      <geometry>
        <cylinder length="0.2" radius="0.2" />
      </geometry>
    </collision>
    <inertial>
      <mass value="0.00294" />
      <inertia ixx="0.0152488" ixy="0" ixz="0" iyy="0.0152488" iyz="0" izz="0.0152488" />
    </inertial>
  </link>
  <joint name="Man2Act0Seg1_to_Man2Act0Seg2_ax1" type="revolute">
    <parent link="Man2Act0Seg1" />
    <child link="Man2Act0Seg2" />
    <origin rpy="0.0 0.0 0.0" xyz="0.0 0.0 0.2" />
    <axis xyz="0 1 0" />
    <limit effort="100" lower="-3.141592" upper="3.141592" velocity="3" />
  </joint>
  <link name="Man2Act0Seg2helper_shape">
    <visual>
      <origin rpy="0 0 0" xyz="0 0 0.0" />
      <geometry>
        <sphere radius="0.2" />
      </geometry>
      <material name="purple">
        <color rgba="0.7 0.2 0.2 1" />
      </material>
    </visual>
    <collision>
      <origin rpy="0 0 0" xyz="0 0 0.0" />
      <geometry>
        <sphere radius="0.2" />
      </geometry>
    </collision>
    <inertial>
      <mass value="2.94e-06" />
      <inertia ixx="1.52488e-05" ixy="0.0" ixz="0.0" iyy="1.52488e-05" iyz="0.0" izz="1.52488e-05" />
    </inertial>
  </link>
  <joint name="Man2Act0Seg1_to_Man2Act0Seg2_ax1helper_shape" type="fixed">
    <parent link="Man2Act0Seg1" />
    <child link="Man2Act0Seg2helper_shape" />
    <origin rpy="0.0 0.0 0.0" xyz="0.0 0.0 0.2" />
    <axis xyz="1 0 0" />
  </joint>
  <link name="Man2Act0Seg3">
    <visual>
      <origin rpy="0.0 0.0 0.0" xyz="0.0 0.0 0.1" />
      <geometry>
        <cylinder length="0.2" radius="0.2" />
      </geometry>
      <material name="purple">
        <color rgba="0.7 0.2 0.2 1" />
      </material>
    </visual>
    <collision>
      <origin rpy="0.0 0.0 0.0" xyz="0.0 0.0 0.1" />
      <geometry>
        <cylinder length="0.2" radius="0.2" />
      </geometry>
    </collision>
    <inertial>
      <mass value="0.00294" />
      <inertia ixx="0.0152488" ixy="0" ixz="0" iyy="0.0152488" iyz="0" izz="0.0152488" />
    </inertial>
  </link>
  <joint name="Man2Act0Seg2_to_Man2Act0Seg3_ax0" type="revolute">
    <parent link="Man2Act0Seg2" />
    <child link="Man2Act0Seg3" />
    <origin rpy="0.0 0.0 0.0" xyz="0.0 0.0 0.2" />
    <axis xyz="1 0 0" />
    <limit effort="100" lower="-3.141592" upper="3.141592" velocity="3" />
  </joint>
  <link name="Man2Act0Seg3helper_shape">
    <visual>
      <origin rpy="0 0 0" xyz="0 0 0.0" />
      <geometry>
        <sphere radius="0.2" />
      </geometry>
      <material name="purple">
        <color rgba="0.7 0.2 0.2 1" />
      </material>
    </visual>
    <collision>
      <origin rpy="0 0 0" xyz="0 0 0.0" />
      <geometry>
        <sphere radius="0.2" />
      </geometry>
    </collision>
    <inertial>
      <mass value="2.94e-06" />
      <inertia ixx="1.52488e-05" ixy="0.0" ixz="0.0" iyy="1.52488e-05" iyz="0.0" izz="1.52488e-05" />
    </inertial>
  </link>
  <joint name="Man2Act0Seg2_to_Man2Act0Seg3_ax0helper_shape" type="fixed">
    <parent link="Man2Act0Seg2" />
    <child link="Man2Act0Seg3helper_shape" />
    <origin rpy="0 0 0" xyz="0 0 0.2" />
    <axis xyz="1 0 0" />
  </joint>
  <link name="Man2Act0Seg4">
    <visual>
      <origin rpy="0 0 0" xyz="0 0 0.1" />
      <geometry>
        <cylinder length="0.2" radius="0.2" />
      </geometry>
      <material name="purple">
        <color rgba="0.7 0.2 0.2 1" />
      </material>
    </visual>
    <collision>
      <origin rpy="0 0 0" xyz="0 0 0.1" />
      <geometry>
        <cylinder length="0.2" radius="0.2" />
      </geometry>
    </collision>
    <inertial>
      <mass value="0.00294" />
      <inertia ixx="0.0152488" ixy="0" ixz="0" iyy="0.0152488" iyz="0" izz="0.0152488" />
    </inertial>
  </link>
  <joint name="Man2Act0Seg3_to_Man2Act0Seg4_ax1" type="revolute">
    <parent link="Man2Act0Seg3" />
    <child link="Man2Act0Seg4" />
    <origin rpy="0.0 0.0 0.0" xyz="0.0 0.0 0.2" />
    <axis xyz="0 1 0" />
    <limit effort="100" lower="-3.141592" upper="3.141592" velocity="3" />
  </joint>
  <link name="Man2Act0Seg4helper_shape">
    <visual>
      <origin rpy="0 0 0" xyz="0 0 0.0" />
      <geometry>
        <sphere radius="0.2" />
      </geometry>
      <material name="purple">
        <color rgba="0.7 0.2 0.2 1" />
      </material>
    </visual>
    <collision>
      <origin rpy="0 0 0" xyz="0 0 0.0" />
      <geometry>
        <sphere radius="0.2" />
      </geometry>
    </collision>
    <inertial>
      <mass value="2.94e-06" />
      <inertia ixx="1.52488e-05" ixy="0.0" ixz="0.0" iyy="1.52488e-05" iyz="0.0" izz="1.52488e-05" />
    </inertial>
  </link>
  <joint name="Man2Act0Seg3_to_Man2Act0Seg4_ax1helper_shape" type="fixed">
    <parent link="Man2Act0Seg3" />
    <child link="Man2Act0Seg4helper_shape" />
    <origin rpy="0.0 0.0 0.0" xyz="0.0 0.0 0.2" />
    <axis xyz="1 0 0" />
  </joint>
  <link name="Man2Act0Seg5">
    <visual>
      <origin rpy="0.0 0.0 0.0" xyz="0.0 0.0 0.1" />
      <geometry>
        <cylinder length="0.2" radius="0.2" />
      </geometry>
      <material name="purple">
        <color rgba="0.7 0.2 0.2 1" />
      </material>
    </visual>
    <collision>
      <origin rpy="0.0 0.0 0.0" xyz="0.0 0.0 0.1" />
      <geometry>
        <cylinder length="0.2" radius="0.2" />
      </geometry>
    </collision>
    <inertial>
      <mass value="0.00294" />
      <inertia ixx="0.0152488" ixy="0" ixz="0" iyy="0.0152488" iyz="0" izz="0.0152488" />
    </inertial>
  </link>
  <joint name="Man2Act0Seg4_to_Man2Act0Seg5_ax0" type="revolute">
    <parent link="Man2Act0Seg4" />
    <child link="Man2Act0Seg5" />
    <origin rpy="0.0 0.0 0.0" xyz="0.0 0.0 0.2" />
    <axis xyz="1 0 0" />
    <limit effort="100" lower="-3.141592" upper="3.141592" velocity="3" />
  </joint>
  <link name="Man2Act0Seg5helper_shape">
    <visual>
      <origin rpy="0 0 0" xyz="0 0 0.0" />
      <geometry>
        <sphere radius="0.2" />
      </geometry>
      <material name="purple">
        <color rgba="0.7 0.2 0.2 1" />
      </material>
    </visual>
    <collision>
      <origin rpy="0 0 0" xyz="0 0 0.0" />
      <geometry>
        <sphere radius="0.2" />
      </geometry>
    </collision>
    <inertial>
      <mass value="2.94e-06" />
      <inertia ixx="1.52488e-05" ixy="0.0" ixz="0.0" iyy="1.52488e-05" iyz="0.0" izz="1.52488e-05" />
    </inertial>
  </link>
  <joint name="Man2Act0Seg4_to_Man2Act0Seg5_ax0helper_shape" type="fixed">
    <parent link="Man2Act0Seg4" />
    <child link="Man2Act0Seg5helper_shape" />
    <origin rpy="0 0 0" xyz="0 0 0.2" />
    <axis xyz="1 0 0" />
  </joint>
  <link name="Man2Act0Seg6">
    <visual>
      <origin rpy="0 0 0" xyz="0 0 0.1" />
      <geometry>
        <cylinder length="0.2" radius="0.2" />
      </geometry>
      <material name="purple">
        <color rgba="0.7 0.2 0.2 1" />
      </material>
    </visual>
    <collision>
      <origin rpy="0 0 0" xyz="0 0 0.1" />
      <geometry>
        <cylinder length="0.2" radius="0.2" />
      </geometry>
    </collision>
    <inertial>
      <mass value="0.00294" />
      <inertia ixx="0.0152488" ixy="0" ixz="0" iyy="0.0152488" iyz="0" izz="0.0152488" />
    </inertial>
  </link>
  <joint name="Man2Act0Seg5_to_Man2Act0Seg6_ax1" type="revolute">
    <parent link="Man2Act0Seg5" />
    <child link="Man2Act0Seg6" />
    <origin rpy="0.0 0.0 0.0" xyz="0.0 0.0 0.2" />
    <axis xyz="0 1 0" />
    <limit effort="100" lower="-3.141592" upper="3.141592" velocity="3" />
  </joint>
  <link name="Man2Act0Seg6helper_shape">
    <visual>
      <origin rpy="0 0 0" xyz="0 0 0.0" />
      <geometry>
        <sphere radius="0.2" />
      </geometry>
      <material name="purple">
        <color rgba="0.7 0.2 0.2 1" />
      </material>
    </visual>
    <collision>
      <origin rpy="0 0 0" xyz="0 0 0.0" />
      <geometry>
        <sphere radius="0.2" />
      </geometry>
    </collision>
    <inertial>
      <mass value="2.94e-06" />
      <inertia ixx="1.52488e-05" ixy="0.0" ixz="0.0" iyy="1.52488e-05" iyz="0.0" izz="1.52488e-05" />
    </inertial>
  </link>
  <joint name="Man2Act0Seg5_to_Man2Act0Seg6_ax1helper_shape" type="fixed">
    <parent link="Man2Act0Seg5" />
    <child link="Man2Act0Seg6helper_shape" />
    <origin rpy="0.0 0.0 0.0" xyz="0.0 0.0 0.2" />
    <axis xyz="1 0 0" />
  </joint>
  <link name="Man2Act0Seg7">
    <visual>
      <origin rpy="0.0 0.0 0.0" xyz="0.0 0.0 0.1" />
      <geometry>
        <cylinder length="0.2" radius="0.2" />
      </geometry>
      <material name="purple">
        <color rgba="0.7 0.2 0.2 1" />
      </material>
    </visual>
    <collision>
      <origin rpy="0.0 0.0 0.0" xyz="0.0 0.0 0.1" />
      <geometry>
        <cylinder length="0.2" radius="0.2" />
      </geometry>
    </collision>
    <inertial>
      <mass value="0.00294" />
      <inertia ixx="0.0152488" ixy="0" ixz="0" iyy="0.0152488" iyz="0" izz="0.0152488" />
    </inertial>
  </link>
  <joint name="Man2Act0Seg6_to_Man2Act0Seg7_ax0" type="revolute">
    <parent link="Man2Act0Seg6" />
    <child link="Man2Act0Seg7" />
    <origin rpy="0.0 0.0 0.0" xyz="0.0 0.0 0.2" />
    <axis xyz="1 0 0" />
    <limit effort="100" lower="-3.141592" upper="3.141592" velocity="3" />
  </joint>
  <link name="Man2Act0Seg7helper_shape">
    <visual>
      <origin rpy="0 0 0" xyz="0 0 0.0" />
      <geometry>
        <sphere radius="0.2" />
      </geometry>
      <material name="purple">
        <color rgba="0.7 0.2 0.2 1" />
      </material>
    </visual>
    <collision>
      <origin rpy="0 0 0" xyz="0 0 0.0" />
      <geometry>
        <sphere radius="0.2" />
      </geometry>
    </collision>
    <inertial>
      <mass value="2.94e-06" />
      <inertia ixx="1.52488e-05" ixy="0.0" ixz="0.0" iyy="1.52488e-05" iyz="0.0" izz="1.52488e-05" />
    </inertial>
  </link>
  <joint name="Man2Act0Seg6_to_Man2Act0Seg7_ax0helper_shape" type="fixed">
    <parent link="Man2Act0Seg6" />
    <child link="Man2Act0Seg7helper_shape" />
    <origin rpy="0 0 0" xyz="0 0 0.2" />
    <axis xyz="1 0 0" />
  </joint>
  <link name="Man2Act0Seg8">
    <visual>
      <origin rpy="0 0 0" xyz="0 0 0.1" />
      <geometry>
        <cylinder length="0.2" radius="0.2" />
      </geometry>
      <material name="purple">
        <color rgba="0.7 0.2 0.2 1" />
      </material>
    </visual>
    <collision>
      <origin rpy="0 0 0" xyz="0 0 0.1" />
      <geometry>
        <cylinder length="0.2" radius="0.2" />
      </geometry>
    </collision>
    <inertial>
      <mass value="0.00294" />
      <inertia ixx="0.0152488" ixy="0" ixz="0" iyy="0.0152488" iyz="0" izz="0.0152488" />
    </inertial>
  </link>
  <joint name="Man2Act0Seg7_to_Man2Act0Seg8_ax1" type="revolute">
    <parent link="Man2Act0Seg7" />
    <child link="Man2Act0Seg8" />
    <origin rpy="0.0 0.0 0.0" xyz="0.0 0.0 0.2" />
    <axis xyz="0 1 0" />
    <limit effort="100" lower="-3.141592" upper="3.141592" velocity="3" />
  </joint>
  <link name="Man2Act0Seg8helper_shape">
    <visual>
      <origin rpy="0 0 0" xyz="0 0 0.0" />
      <geometry>
        <sphere radius="0.2" />
      </geometry>
      <material name="purple">
        <color rgba="0.7 0.2 0.2 1" />
      </material>
    </visual>
    <collision>
      <origin rpy="0 0 0" xyz="0 0 0.0" />
      <geometry>
        <sphere radius="0.2" />
      </geometry>
    </collision>
    <inertial>
      <mass value="2.94e-06" />
      <inertia ixx="1.52488e-05" ixy="0.0" ixz="0.0" iyy="1.52488e-05" iyz="0.0" izz="1.52488e-05" />
    </inertial>
  </link>
  <joint name="Man2Act0Seg7_to_Man2Act0Seg8_ax1helper_shape" type="fixed">
    <parent link="Man2Act0Seg7" />
    <child link="Man2Act0Seg8helper_shape" />
    <origin rpy="0.0 0.0 0.0" xyz="0.0 0.0 0.2" />
    <axis xyz="1 0 0" />
  </joint>
  <link name="Man2Act0Seg9">
    <visual>
      <origin rpy="0.0 0.0 0.0" xyz="0.0 0.0 0.1" />
      <geometry>
        <cylinder length="0.2" radius="0.2" />
      </geometry>
      <material name="purple">
        <color rgba="0.7 0.2 0.2 1" />
      </material>
    </visual>
    <collision>
      <origin rpy="0.0 0.0 0.0" xyz="0.0 0.0 0.1" />
      <geometry>
        <cylinder length="0.2" radius="0.2" />
      </geometry>
    </collision>
    <inertial>
      <mass value="0.00294" />
      <inertia ixx="0.0152488" ixy="0" ixz="0" iyy="0.0152488" iyz="0" izz="0.0152488" />
    </inertial>
  </link>
  <joint name="Man2Act0Seg8_to_Man2Act0Seg9_ax0" type="revolute">
    <parent link="Man2Act0Seg8" />
    <child link="Man2Act0Seg9" />
    <origin rpy="0.0 0.0 0.0" xyz="0.0 0.0 0.2" />
    <axis xyz="1 0 0" />
    <limit effort="100" lower="-3.141592" upper="3.141592" velocity="3" />
  </joint>
  <link name="Man2Act0Seg9helper_shape">
    <visual>
      <origin rpy="0 0 0" xyz="0 0 0.0" />
      <geometry>
        <sphere radius="0.2" />
      </geometry>
      <material name="purple">
        <color rgba="0.7 0.2 0.2 1" />
      </material>
    </visual>
    <collision>
      <origin rpy="0 0 0" xyz="0 0 0.0" />
      <geometry>
        <sphere radius="0.2" />
      </geometry>
    </collision>
    <inertial>
      <mass value="2.94e-06" />
      <inertia ixx="1.52488e-05" ixy="0.0" ixz="0.0" iyy="1.52488e-05" iyz="0.0" izz="1.52488e-05" />
    </inertial>
  </link>
  <joint name="Man2Act0Seg8_to_Man2Act0Seg9_ax0helper_shape" type="fixed">
    <parent link="Man2Act0Seg8" />
    <child link="Man2Act0Seg9helper_shape" />
    <origin rpy="0 0 0" xyz="0 0 0.2" />
    <axis xyz="1 0 0" />
  </joint>
  <link name="Man2Act0Seg10">
    <visual>
      <origin rpy="0 0 0" xyz="0 0 0.05" />
      <geometry>
        <cylinder length="0.1" radius="0.2" />
      </geometry>
      <material name="purple">
        <color rgba="0.7 0.2 0.2 1" />
      </material>
    </visual>
    <collision>
      <origin rpy="0 0 0" xyz="0 0 0.05" />
      <geometry>
        <cylinder length="0.1" radius="0.2" />
      </geometry>
    </collision>
    <inertial>
      <mass value="0.00294" />
      <inertia ixx="0.0152488" ixy="0" ixz="0" iyy="0.0152488" iyz="0" izz="0.0152488" />
    </inertial>
  </link>
  <joint name="Man2Act0Seg9_to_Man2Act0Seg10_ax1" type="revolute">
    <parent link="Man2Act0Seg9" />
    <child link="Man2Act0Seg10" />
    <origin rpy="0.0 0.0 0.0" xyz="0.0 0.0 0.2" />
    <axis xyz="0 1 0" />
    <limit effort="100" lower="-3.141592" upper="3.141592" velocity="3" />
  </joint>
  <link name="Man2Act0Seg10helper_shape">
    <visual>
      <origin rpy="0 0 0" xyz="0 0 0.0" />
      <geometry>
        <sphere radius="0.2" />
      </geometry>
      <material name="purple">
        <color rgba="0.7 0.2 0.2 1" />
      </material>
    </visual>
    <collision>
      <origin rpy="0 0 0" xyz="0 0 0.0" />
      <geometry>
        <sphere radius="0.2" />
      </geometry>
    </collision>
    <inertial>
      <mass value="2.94e-06" />
      <inertia ixx="1.52488e-05" ixy="0.0" ixz="0.0" iyy="1.52488e-05" iyz="0.0" izz="1.52488e-05" />
    </inertial>
  </link>
  <joint name="Man2Act0Seg9_to_Man2Act0Seg10_ax1helper_shape" type="fixed">
    <parent link="Man2Act0Seg9" />
    <child link="Man2Act0Seg10helper_shape" />
    <origin rpy="0.0 0.0 0.0" xyz="0.0 0.0 0.2" />
    <axis xyz="1 0 0" />
  </joint>
  <link name="Man3Act0Seg0">
    <visual>
      <origin rpy="0.0 1.5707963267948966 0.0" xyz="1.0 0.75 0.05" />
      <geometry>
        <cylinder length="0.1" radius="0.2" />
      </geometry>
      <material name="purple">
        <color rgba="0.7 0.2 0.2 1" />
      </material>
    </visual>
    <collision>
      <origin rpy="0.0 1.5707963267948966 0.0" xyz="1.0 0.75 0.05" />
      <geometry>
        <cylinder length="0.1" radius="0.2" />
      </geometry>
    </collision>
    <inertial>
      <mass value="0.00294" />
      <inertia ixx="0.0152488" ixy="0" ixz="0" iyy="0.0152488" iyz="0" izz="0.0152488" />
    </inertial>
  </link>
  <joint name="base_link_to_Man3Act0Seg0" type="fixed">
    <parent link="base_link" />
    <child link="Man3Act0Seg0" />
    <origin rpy="0.0 0.0 0.0" xyz="0.0 0.0 0.2" />
    <axis xyz="1 0 0" />
    <limit effort="100" lower="-3.141592" upper="3.141592" velocity="3" />
  </joint>
  <link name="Man3Act0Seg1">
    <visual>
      <origin rpy="0.0 0.0 0.0" xyz="0.0 0.0 0.1" />
      <geometry>
        <cylinder length="0.2" radius="0.2" />
      </geometry>
      <material name="purple">
        <color rgba="0.7 0.2 0.2 1" />
      </material>
    </visual>
    <collision>
      <origin rpy="0.0 0.0 0.0" xyz="0.0 0.0 0.1" />
      <geometry>
        <cylinder length="0.2" radius="0.2" />
      </geometry>
    </collision>
    <inertial>
      <mass value="0.00294" />
      <inertia ixx="0.0152488" ixy="0" ixz="0" iyy="0.0152488" iyz="0" izz="0.0152488" />
    </inertial>
  </link>
  <joint name="Man3Act0Seg0_to_Man3Act0Seg1_ax0" type="revolute">
    <parent link="Man3Act0Seg0" />
    <child link="Man3Act0Seg1" />
    <origin rpy="0.0 1.5707963267948966 0.0" xyz="1.0 0.75 0.1" />
    <axis xyz="1 0 0" />
    <limit effort="100" lower="-3.141592" upper="3.141592" velocity="3" />
  </joint>
  <link name="Man3Act0Seg1helper_shape">
    <visual>
      <origin rpy="0 0 0" xyz="0 0 0.0" />
      <geometry>
        <sphere radius="0.2" />
      </geometry>
      <material name="purple">
        <color rgba="0.7 0.2 0.2 1" />
      </material>
    </visual>
    <collision>
      <origin rpy="0 0 0" xyz="0 0 0.0" />
      <geometry>
        <sphere radius="0.2" />
      </geometry>
    </collision>
    <inertial>
      <mass value="2.94e-06" />
      <inertia ixx="1.52488e-05" ixy="0.0" ixz="0.0" iyy="1.52488e-05" iyz="0.0" izz="1.52488e-05" />
    </inertial>
  </link>
  <joint name="Man3Act0Seg0_to_Man3Act0Seg1_ax0helper_shape" type="fixed">
    <parent link="Man3Act0Seg0" />
    <child link="Man3Act0Seg1helper_shape" />
    <origin rpy="0.0 1.5707963267948966 0.0" xyz="1.0 0.75 0.1" />
    <axis xyz="1 0 0" />
  </joint>
  <link name="Man3Act0Seg2">
    <visual>
      <origin rpy="0 0 0" xyz="0 0 0.1" />
      <geometry>
        <cylinder length="0.2" radius="0.2" />
      </geometry>
      <material name="purple">
        <color rgba="0.7 0.2 0.2 1" />
      </material>
    </visual>
    <collision>
      <origin rpy="0 0 0" xyz="0 0 0.1" />
      <geometry>
        <cylinder length="0.2" radius="0.2" />
      </geometry>
    </collision>
    <inertial>
      <mass value="0.00294" />
      <inertia ixx="0.0152488" ixy="0" ixz="0" iyy="0.0152488" iyz="0" izz="0.0152488" />
    </inertial>
  </link>
  <joint name="Man3Act0Seg1_to_Man3Act0Seg2_ax1" type="revolute">
    <parent link="Man3Act0Seg1" />
    <child link="Man3Act0Seg2" />
    <origin rpy="0.0 0.0 0.0" xyz="0.0 0.0 0.2" />
    <axis xyz="0 1 0" />
    <limit effort="100" lower="-3.141592" upper="3.141592" velocity="3" />
  </joint>
  <link name="Man3Act0Seg2helper_shape">
    <visual>
      <origin rpy="0 0 0" xyz="0 0 0.0" />
      <geometry>
        <sphere radius="0.2" />
      </geometry>
      <material name="purple">
        <color rgba="0.7 0.2 0.2 1" />
      </material>
    </visual>
    <collision>
      <origin rpy="0 0 0" xyz="0 0 0.0" />
      <geometry>
        <sphere radius="0.2" />
      </geometry>
    </collision>
    <inertial>
      <mass value="2.94e-06" />
      <inertia ixx="1.52488e-05" ixy="0.0" ixz="0.0" iyy="1.52488e-05" iyz="0.0" izz="1.52488e-05" />
    </inertial>
  </link>
  <joint name="Man3Act0Seg1_to_Man3Act0Seg2_ax1helper_shape" type="fixed">
    <parent link="Man3Act0Seg1" />
    <child link="Man3Act0Seg2helper_shape" />
    <origin rpy="0.0 0.0 0.0" xyz="0.0 0.0 0.2" />
    <axis xyz="1 0 0" />
  </joint>
  <link name="Man3Act0Seg3">
    <visual>
      <origin rpy="0.0 0.0 0.0" xyz="0.0 0.0 0.1" />
      <geometry>
        <cylinder length="0.2" radius="0.2" />
      </geometry>
      <material name="purple">
        <color rgba="0.7 0.2 0.2 1" />
      </material>
    </visual>
    <collision>
      <origin rpy="0.0 0.0 0.0" xyz="0.0 0.0 0.1" />
      <geometry>
        <cylinder length="0.2" radius="0.2" />
      </geometry>
    </collision>
    <inertial>
      <mass value="0.00294" />
      <inertia ixx="0.0152488" ixy="0" ixz="0" iyy="0.0152488" iyz="0" izz="0.0152488" />
    </inertial>
  </link>
  <joint name="Man3Act0Seg2_to_Man3Act0Seg3_ax0" type="revolute">
    <parent link="Man3Act0Seg2" />
    <child link="Man3Act0Seg3" />
    <origin rpy="0.0 0.0 0.0" xyz="0.0 0.0 0.2" />
    <axis xyz="1 0 0" />
    <limit effort="100" lower="-3.141592" upper="3.141592" velocity="3" />
  </joint>
  <link name="Man3Act0Seg3helper_shape">
    <visual>
      <origin rpy="0 0 0" xyz="0 0 0.0" />
      <geometry>
        <sphere radius="0.2" />
      </geometry>
      <material name="purple">
        <color rgba="0.7 0.2 0.2 1" />
      </material>
    </visual>
    <collision>
      <origin rpy="0 0 0" xyz="0 0 0.0" />
      <geometry>
        <sphere radius="0.2" />
      </geometry>
    </collision>
    <inertial>
      <mass value="2.94e-06" />
      <inertia ixx="1.52488e-05" ixy="0.0" ixz="0.0" iyy="1.52488e-05" iyz="0.0" izz="1.52488e-05" />
    </inertial>
  </link>
  <joint name="Man3Act0Seg2_to_Man3Act0Seg3_ax0helper_shape" type="fixed">
    <parent link="Man3Act0Seg2" />
    <child link="Man3Act0Seg3helper_shape" />
    <origin rpy="0 0 0" xyz="0 0 0.2" />
    <axis xyz="1 0 0" />
  </joint>
  <link name="Man3Act0Seg4">
    <visual>
      <origin rpy="0 0 0" xyz="0 0 0.1" />
      <geometry>
        <cylinder length="0.2" radius="0.2" />
      </geometry>
      <material name="purple">
        <color rgba="0.7 0.2 0.2 1" />
      </material>
    </visual>
    <collision>
      <origin rpy="0 0 0" xyz="0 0 0.1" />
      <geometry>
        <cylinder length="0.2" radius="0.2" />
      </geometry>
    </collision>
    <inertial>
      <mass value="0.00294" />
      <inertia ixx="0.0152488" ixy="0" ixz="0" iyy="0.0152488" iyz="0" izz="0.0152488" />
    </inertial>
  </link>
  <joint name="Man3Act0Seg3_to_Man3Act0Seg4_ax1" type="revolute">
    <parent link="Man3Act0Seg3" />
    <child link="Man3Act0Seg4" />
    <origin rpy="0.0 0.0 0.0" xyz="0.0 0.0 0.2" />
    <axis xyz="0 1 0" />
    <limit effort="100" lower="-3.141592" upper="3.141592" velocity="3" />
  </joint>
  <link name="Man3Act0Seg4helper_shape">
    <visual>
      <origin rpy="0 0 0" xyz="0 0 0.0" />
      <geometry>
        <sphere radius="0.2" />
      </geometry>
      <material name="purple">
        <color rgba="0.7 0.2 0.2 1" />
      </material>
    </visual>
    <collision>
      <origin rpy="0 0 0" xyz="0 0 0.0" />
      <geometry>
        <sphere radius="0.2" />
      </geometry>
    </collision>
    <inertial>
      <mass value="2.94e-06" />
      <inertia ixx="1.52488e-05" ixy="0.0" ixz="0.0" iyy="1.52488e-05" iyz="0.0" izz="1.52488e-05" />
    </inertial>
  </link>
  <joint name="Man3Act0Seg3_to_Man3Act0Seg4_ax1helper_shape" type="fixed">
    <parent link="Man3Act0Seg3" />
    <child link="Man3Act0Seg4helper_shape" />
    <origin rpy="0.0 0.0 0.0" xyz="0.0 0.0 0.2" />
    <axis xyz="1 0 0" />
  </joint>
  <link name="Man3Act0Seg5">
    <visual>
      <origin rpy="0.0 0.0 0.0" xyz="0.0 0.0 0.1" />
      <geometry>
        <cylinder length="0.2" radius="0.2" />
      </geometry>
      <material name="purple">
        <color rgba="0.7 0.2 0.2 1" />
      </material>
    </visual>
    <collision>
      <origin rpy="0.0 0.0 0.0" xyz="0.0 0.0 0.1" />
      <geometry>
        <cylinder length="0.2" radius="0.2" />
      </geometry>
    </collision>
    <inertial>
      <mass value="0.00294" />
      <inertia ixx="0.0152488" ixy="0" ixz="0" iyy="0.0152488" iyz="0" izz="0.0152488" />
    </inertial>
  </link>
  <joint name="Man3Act0Seg4_to_Man3Act0Seg5_ax0" type="revolute">
    <parent link="Man3Act0Seg4" />
    <child link="Man3Act0Seg5" />
    <origin rpy="0.0 0.0 0.0" xyz="0.0 0.0 0.2" />
    <axis xyz="1 0 0" />
    <limit effort="100" lower="-3.141592" upper="3.141592" velocity="3" />
  </joint>
  <link name="Man3Act0Seg5helper_shape">
    <visual>
      <origin rpy="0 0 0" xyz="0 0 0.0" />
      <geometry>
        <sphere radius="0.2" />
      </geometry>
      <material name="purple">
        <color rgba="0.7 0.2 0.2 1" />
      </material>
    </visual>
    <collision>
      <origin rpy="0 0 0" xyz="0 0 0.0" />
      <geometry>
        <sphere radius="0.2" />
      </geometry>
    </collision>
    <inertial>
      <mass value="2.94e-06" />
      <inertia ixx="1.52488e-05" ixy="0.0" ixz="0.0" iyy="1.52488e-05" iyz="0.0" izz="1.52488e-05" />
    </inertial>
  </link>
  <joint name="Man3Act0Seg4_to_Man3Act0Seg5_ax0helper_shape" type="fixed">
    <parent link="Man3Act0Seg4" />
    <child link="Man3Act0Seg5helper_shape" />
    <origin rpy="0 0 0" xyz="0 0 0.2" />
    <axis xyz="1 0 0" />
  </joint>
  <link name="Man3Act0Seg6">
    <visual>
      <origin rpy="0 0 0" xyz="0 0 0.1" />
      <geometry>
        <cylinder length="0.2" radius="0.2" />
      </geometry>
      <material name="purple">
        <color rgba="0.7 0.2 0.2 1" />
      </material>
    </visual>
    <collision>
      <origin rpy="0 0 0" xyz="0 0 0.1" />
      <geometry>
        <cylinder length="0.2" radius="0.2" />
      </geometry>
    </collision>
    <inertial>
      <mass value="0.00294" />
      <inertia ixx="0.0152488" ixy="0" ixz="0" iyy="0.0152488" iyz="0" izz="0.0152488" />
    </inertial>
  </link>
  <joint name="Man3Act0Seg5_to_Man3Act0Seg6_ax1" type="revolute">
    <parent link="Man3Act0Seg5" />
    <child link="Man3Act0Seg6" />
    <origin rpy="0.0 0.0 0.0" xyz="0.0 0.0 0.2" />
    <axis xyz="0 1 0" />
    <limit effort="100" lower="-3.141592" upper="3.141592" velocity="3" />
  </joint>
  <link name="Man3Act0Seg6helper_shape">
    <visual>
      <origin rpy="0 0 0" xyz="0 0 0.0" />
      <geometry>
        <sphere radius="0.2" />
      </geometry>
      <material name="purple">
        <color rgba="0.7 0.2 0.2 1" />
      </material>
    </visual>
    <collision>
      <origin rpy="0 0 0" xyz="0 0 0.0" />
      <geometry>
        <sphere radius="0.2" />
      </geometry>
    </collision>
    <inertial>
      <mass value="2.94e-06" />
      <inertia ixx="1.52488e-05" ixy="0.0" ixz="0.0" iyy="1.52488e-05" iyz="0.0" izz="1.52488e-05" />
    </inertial>
  </link>
  <joint name="Man3Act0Seg5_to_Man3Act0Seg6_ax1helper_shape" type="fixed">
    <parent link="Man3Act0Seg5" />
    <child link="Man3Act0Seg6helper_shape" />
    <origin rpy="0.0 0.0 0.0" xyz="0.0 0.0 0.2" />
    <axis xyz="1 0 0" />
  </joint>
  <link name="Man3Act0Seg7">
    <visual>
      <origin rpy="0.0 0.0 0.0" xyz="0.0 0.0 0.1" />
      <geometry>
        <cylinder length="0.2" radius="0.2" />
      </geometry>
      <material name="purple">
        <color rgba="0.7 0.2 0.2 1" />
      </material>
    </visual>
    <collision>
      <origin rpy="0.0 0.0 0.0" xyz="0.0 0.0 0.1" />
      <geometry>
        <cylinder length="0.2" radius="0.2" />
      </geometry>
    </collision>
    <inertial>
      <mass value="0.00294" />
      <inertia ixx="0.0152488" ixy="0" ixz="0" iyy="0.0152488" iyz="0" izz="0.0152488" />
    </inertial>
  </link>
  <joint name="Man3Act0Seg6_to_Man3Act0Seg7_ax0" type="revolute">
    <parent link="Man3Act0Seg6" />
    <child link="Man3Act0Seg7" />
    <origin rpy="0.0 0.0 0.0" xyz="0.0 0.0 0.2" />
    <axis xyz="1 0 0" />
    <limit effort="100" lower="-3.141592" upper="3.141592" velocity="3" />
  </joint>
  <link name="Man3Act0Seg7helper_shape">
    <visual>
      <origin rpy="0 0 0" xyz="0 0 0.0" />
      <geometry>
        <sphere radius="0.2" />
      </geometry>
      <material name="purple">
        <color rgba="0.7 0.2 0.2 1" />
      </material>
    </visual>
    <collision>
      <origin rpy="0 0 0" xyz="0 0 0.0" />
      <geometry>
        <sphere radius="0.2" />
      </geometry>
    </collision>
    <inertial>
      <mass value="2.94e-06" />
      <inertia ixx="1.52488e-05" ixy="0.0" ixz="0.0" iyy="1.52488e-05" iyz="0.0" izz="1.52488e-05" />
    </inertial>
  </link>
  <joint name="Man3Act0Seg6_to_Man3Act0Seg7_ax0helper_shape" type="fixed">
    <parent link="Man3Act0Seg6" />
    <child link="Man3Act0Seg7helper_shape" />
    <origin rpy="0 0 0" xyz="0 0 0.2" />
    <axis xyz="1 0 0" />
  </joint>
  <link name="Man3Act0Seg8">
    <visual>
      <origin rpy="0 0 0" xyz="0 0 0.1" />
      <geometry>
        <cylinder length="0.2" radius="0.2" />
      </geometry>
      <material name="purple">
        <color rgba="0.7 0.2 0.2 1" />
      </material>
    </visual>
    <collision>
      <origin rpy="0 0 0" xyz="0 0 0.1" />
      <geometry>
        <cylinder length="0.2" radius="0.2" />
      </geometry>
    </collision>
    <inertial>
      <mass value="0.00294" />
      <inertia ixx="0.0152488" ixy="0" ixz="0" iyy="0.0152488" iyz="0" izz="0.0152488" />
    </inertial>
  </link>
  <joint name="Man3Act0Seg7_to_Man3Act0Seg8_ax1" type="revolute">
    <parent link="Man3Act0Seg7" />
    <child link="Man3Act0Seg8" />
    <origin rpy="0.0 0.0 0.0" xyz="0.0 0.0 0.2" />
    <axis xyz="0 1 0" />
    <limit effort="100" lower="-3.141592" upper="3.141592" velocity="3" />
  </joint>
  <link name="Man3Act0Seg8helper_shape">
    <visual>
      <origin rpy="0 0 0" xyz="0 0 0.0" />
      <geometry>
        <sphere radius="0.2" />
      </geometry>
      <material name="purple">
        <color rgba="0.7 0.2 0.2 1" />
      </material>
    </visual>
    <collision>
      <origin rpy="0 0 0" xyz="0 0 0.0" />
      <geometry>
        <sphere radius="0.2" />
      </geometry>
    </collision>
    <inertial>
      <mass value="2.94e-06" />
      <inertia ixx="1.52488e-05" ixy="0.0" ixz="0.0" iyy="1.52488e-05" iyz="0.0" izz="1.52488e-05" />
    </inertial>
  </link>
  <joint name="Man3Act0Seg7_to_Man3Act0Seg8_ax1helper_shape" type="fixed">
    <parent link="Man3Act0Seg7" />
    <child link="Man3Act0Seg8helper_shape" />
    <origin rpy="0.0 0.0 0.0" xyz="0.0 0.0 0.2" />
    <axis xyz="1 0 0" />
  </joint>
  <link name="Man3Act0Seg9">
    <visual>
      <origin rpy="0.0 0.0 0.0" xyz="0.0 0.0 0.1" />
      <geometry>
        <cylinder length="0.2" radius="0.2" />
      </geometry>
      <material name="purple">
        <color rgba="0.7 0.2 0.2 1" />
      </material>
    </visual>
    <collision>
      <origin rpy="0.0 0.0 0.0" xyz="0.0 0.0 0.1" />
      <geometry>
        <cylinder length="0.2" radius="0.2" />
      </geometry>
    </collision>
    <inertial>
      <mass value="0.00294" />
      <inertia ixx="0.0152488" ixy="0" ixz="0" iyy="0.0152488" iyz="0" izz="0.0152488" />
    </inertial>
  </link>
  <joint name="Man3Act0Seg8_to_Man3Act0Seg9_ax0" type="revolute">
    <parent link="Man3Act0Seg8" />
    <child link="Man3Act0Seg9" />
    <origin rpy="0.0 0.0 0.0" xyz="0.0 0.0 0.2" />
    <axis xyz="1 0 0" />
    <limit effort="100" lower="-3.141592" upper="3.141592" velocity="3" />
  </joint>
  <link name="Man3Act0Seg9helper_shape">
    <visual>
      <origin rpy="0 0 0" xyz="0 0 0.0" />
      <geometry>
        <sphere radius="0.2" />
      </geometry>
      <material name="purple">
        <color rgba="0.7 0.2 0.2 1" />
      </material>
    </visual>
    <collision>
      <origin rpy="0 0 0" xyz="0 0 0.0" />
      <geometry>
        <sphere radius="0.2" />
      </geometry>
    </collision>
    <inertial>
      <mass value="2.94e-06" />
      <inertia ixx="1.52488e-05" ixy="0.0" ixz="0.0" iyy="1.52488e-05" iyz="0.0" izz="1.52488e-05" />
    </inertial>
  </link>
  <joint name="Man3Act0Seg8_to_Man3Act0Seg9_ax0helper_shape" type="fixed">
    <parent link="Man3Act0Seg8" />
    <child link="Man3Act0Seg9helper_shape" />
    <origin rpy="0 0 0" xyz="0 0 0.2" />
    <axis xyz="1 0 0" />
  </joint>
  <link name="Man3Act0Seg10">
    <visual>
      <origin rpy="0 0 0" xyz="0 0 0.05" />
      <geometry>
        <cylinder length="0.1" radius="0.2" />
      </geometry>
      <material name="purple">
        <color rgba="0.7 0.2 0.2 1" />
      </material>
    </visual>
    <collision>
      <origin rpy="0 0 0" xyz="0 0 0.05" />
      <geometry>
        <cylinder length="0.1" radius="0.2" />
      </geometry>
    </collision>
    <inertial>
      <mass value="0.00294" />
      <inertia ixx="0.0152488" ixy="0" ixz="0" iyy="0.0152488" iyz="0" izz="0.0152488" />
    </inertial>
  </link>
  <joint name="Man3Act0Seg9_to_Man3Act0Seg10_ax1" type="revolute">
    <parent link="Man3Act0Seg9" />
    <child link="Man3Act0Seg10" />
    <origin rpy="0.0 0.0 0.0" xyz="0.0 0.0 0.2" />
    <axis xyz="0 1 0" />
    <limit effort="100" lower="-3.141592" upper="3.141592" velocity="3" />
  </joint>
  <link name="Man3Act0Seg10helper_shape">
    <visual>
      <origin rpy="0 0 0" xyz="0 0 0.0" />
      <geometry>
        <sphere radius="0.2" />
      </geometry>
      <material name="purple">
        <color rgba="0.7 0.2 0.2 1" />
      </material>
    </visual>
    <collision>
      <origin rpy="0 0 0" xyz="0 0 0.0" />
      <geometry>
        <sphere radius="0.2" />
      </geometry>
    </collision>
    <inertial>
      <mass value="2.94e-06" />
      <inertia ixx="1.52488e-05" ixy="0.0" ixz="0.0" iyy="1.52488e-05" iyz="0.0" izz="1.52488e-05" />
    </inertial>
  </link>
  <joint name="Man3Act0Seg9_to_Man3Act0Seg10_ax1helper_shape" type="fixed">
    <parent link="Man3Act0Seg9" />
    <child link="Man3Act0Seg10helper_shape" />
    <origin rpy="0.0 0.0 0.0" xyz="0.0 0.0 0.2" />
    <axis xyz="1 0 0" />
  </joint>
  <link name="Man4Act0Seg0">
    <visual>
      <origin rpy="-0.7853981633974483 1.5707963267948966 0.0" xyz="0.0 1.0 0.05" />
      <geometry>
        <cylinder length="0.1" radius="0.2" />
      </geometry>
      <material name="purple">
        <color rgba="0.7 0.2 0.2 1" />
      </material>
    </visual>
    <collision>
      <origin rpy="-0.7853981633974483 1.5707963267948966 0.0" xyz="0.0 1.0 0.05" />
      <geometry>
        <cylinder length="0.1" radius="0.2" />
      </geometry>
    </collision>
    <inertial>
      <mass value="0.00294" />
      <inertia ixx="0.0152488" ixy="0" ixz="0" iyy="0.0152488" iyz="0" izz="0.0152488" />
    </inertial>
  </link>
  <joint name="base_link_to_Man4Act0Seg0" type="fixed">
    <parent link="base_link" />
    <child link="Man4Act0Seg0" />
    <origin rpy="0.0 0.0 0.0" xyz="0.0 0.0 0.2" />
    <axis xyz="1 0 0" />
    <limit effort="100" lower="-3.141592" upper="3.141592" velocity="3" />
  </joint>
  <link name="Man4Act0Seg1">
    <visual>
      <origin rpy="0.0 0.0 0.0" xyz="0.0 0.0 0.1" />
      <geometry>
        <cylinder length="0.2" radius="0.2" />
      </geometry>
      <material name="purple">
        <color rgba="0.7 0.2 0.2 1" />
      </material>
    </visual>
    <collision>
      <origin rpy="0.0 0.0 0.0" xyz="0.0 0.0 0.1" />
      <geometry>
        <cylinder length="0.2" radius="0.2" />
      </geometry>
    </collision>
    <inertial>
      <mass value="0.00294" />
      <inertia ixx="0.0152488" ixy="0" ixz="0" iyy="0.0152488" iyz="0" izz="0.0152488" />
    </inertial>
  </link>
  <joint name="Man4Act0Seg0_to_Man4Act0Seg1_ax0" type="revolute">
    <parent link="Man4Act0Seg0" />
    <child link="Man4Act0Seg1" />
    <origin rpy="-0.7853981633974483 1.5707963267948966 0.0" xyz="0.0 1.0 0.1" />
    <axis xyz="1 0 0" />
    <limit effort="100" lower="-3.141592" upper="3.141592" velocity="3" />
  </joint>
  <link name="Man4Act0Seg1helper_shape">
    <visual>
      <origin rpy="0 0 0" xyz="0 0 0.0" />
      <geometry>
        <sphere radius="0.2" />
      </geometry>
      <material name="purple">
        <color rgba="0.7 0.2 0.2 1" />
      </material>
    </visual>
    <collision>
      <origin rpy="0 0 0" xyz="0 0 0.0" />
      <geometry>
        <sphere radius="0.2" />
      </geometry>
    </collision>
    <inertial>
      <mass value="2.94e-06" />
      <inertia ixx="1.52488e-05" ixy="0.0" ixz="0.0" iyy="1.52488e-05" iyz="0.0" izz="1.52488e-05" />
    </inertial>
  </link>
  <joint name="Man4Act0Seg0_to_Man4Act0Seg1_ax0helper_shape" type="fixed">
    <parent link="Man4Act0Seg0" />
    <child link="Man4Act0Seg1helper_shape" />
    <origin rpy="-0.7853981633974483 1.5707963267948966 0.0" xyz="0.0 1.0 0.1" />
    <axis xyz="1 0 0" />
  </joint>
  <link name="Man4Act0Seg2">
    <visual>
      <origin rpy="0 0 0" xyz="0 0 0.1" />
      <geometry>
        <cylinder length="0.2" radius="0.2" />
      </geometry>
      <material name="purple">
        <color rgba="0.7 0.2 0.2 1" />
      </material>
    </visual>
    <collision>
      <origin rpy="0 0 0" xyz="0 0 0.1" />
      <geometry>
        <cylinder length="0.2" radius="0.2" />
      </geometry>
    </collision>
    <inertial>
      <mass value="0.00294" />
      <inertia ixx="0.0152488" ixy="0" ixz="0" iyy="0.0152488" iyz="0" izz="0.0152488" />
    </inertial>
  </link>
  <joint name="Man4Act0Seg1_to_Man4Act0Seg2_ax1" type="revolute">
    <parent link="Man4Act0Seg1" />
    <child link="Man4Act0Seg2" />
    <origin rpy="0.0 0.0 0.0" xyz="0.0 0.0 0.2" />
    <axis xyz="0 1 0" />
    <limit effort="100" lower="-3.141592" upper="3.141592" velocity="3" />
  </joint>
  <link name="Man4Act0Seg2helper_shape">
    <visual>
      <origin rpy="0 0 0" xyz="0 0 0.0" />
      <geometry>
        <sphere radius="0.2" />
      </geometry>
      <material name="purple">
        <color rgba="0.7 0.2 0.2 1" />
      </material>
    </visual>
    <collision>
      <origin rpy="0 0 0" xyz="0 0 0.0" />
      <geometry>
        <sphere radius="0.2" />
      </geometry>
    </collision>
    <inertial>
      <mass value="2.94e-06" />
      <inertia ixx="1.52488e-05" ixy="0.0" ixz="0.0" iyy="1.52488e-05" iyz="0.0" izz="1.52488e-05" />
    </inertial>
  </link>
  <joint name="Man4Act0Seg1_to_Man4Act0Seg2_ax1helper_shape" type="fixed">
    <parent link="Man4Act0Seg1" />
    <child link="Man4Act0Seg2helper_shape" />
    <origin rpy="0.0 0.0 0.0" xyz="0.0 0.0 0.2" />
    <axis xyz="1 0 0" />
  </joint>
  <link name="Man4Act0Seg3">
    <visual>
      <origin rpy="0.0 0.0 0.0" xyz="0.0 0.0 0.1" />
      <geometry>
        <cylinder length="0.2" radius="0.2" />
      </geometry>
      <material name="purple">
        <color rgba="0.7 0.2 0.2 1" />
      </material>
    </visual>
    <collision>
      <origin rpy="0.0 0.0 0.0" xyz="0.0 0.0 0.1" />
      <geometry>
        <cylinder length="0.2" radius="0.2" />
      </geometry>
    </collision>
    <inertial>
      <mass value="0.00294" />
      <inertia ixx="0.0152488" ixy="0" ixz="0" iyy="0.0152488" iyz="0" izz="0.0152488" />
    </inertial>
  </link>
  <joint name="Man4Act0Seg2_to_Man4Act0Seg3_ax0" type="revolute">
    <parent link="Man4Act0Seg2" />
    <child link="Man4Act0Seg3" />
    <origin rpy="0.0 0.0 0.0" xyz="0.0 0.0 0.2" />
    <axis xyz="1 0 0" />
    <limit effort="100" lower="-3.141592" upper="3.141592" velocity="3" />
  </joint>
  <link name="Man4Act0Seg3helper_shape">
    <visual>
      <origin rpy="0 0 0" xyz="0 0 0.0" />
      <geometry>
        <sphere radius="0.2" />
      </geometry>
      <material name="purple">
        <color rgba="0.7 0.2 0.2 1" />
      </material>
    </visual>
    <collision>
      <origin rpy="0 0 0" xyz="0 0 0.0" />
      <geometry>
        <sphere radius="0.2" />
      </geometry>
    </collision>
    <inertial>
      <mass value="2.94e-06" />
      <inertia ixx="1.52488e-05" ixy="0.0" ixz="0.0" iyy="1.52488e-05" iyz="0.0" izz="1.52488e-05" />
    </inertial>
  </link>
  <joint name="Man4Act0Seg2_to_Man4Act0Seg3_ax0helper_shape" type="fixed">
    <parent link="Man4Act0Seg2" />
    <child link="Man4Act0Seg3helper_shape" />
    <origin rpy="0 0 0" xyz="0 0 0.2" />
    <axis xyz="1 0 0" />
  </joint>
  <link name="Man4Act0Seg4">
    <visual>
      <origin rpy="0 0 0" xyz="0 0 0.1" />
      <geometry>
        <cylinder length="0.2" radius="0.2" />
      </geometry>
      <material name="purple">
        <color rgba="0.7 0.2 0.2 1" />
      </material>
    </visual>
    <collision>
      <origin rpy="0 0 0" xyz="0 0 0.1" />
      <geometry>
        <cylinder length="0.2" radius="0.2" />
      </geometry>
    </collision>
    <inertial>
      <mass value="0.00294" />
      <inertia ixx="0.0152488" ixy="0" ixz="0" iyy="0.0152488" iyz="0" izz="0.0152488" />
    </inertial>
  </link>
  <joint name="Man4Act0Seg3_to_Man4Act0Seg4_ax1" type="revolute">
    <parent link="Man4Act0Seg3" />
    <child link="Man4Act0Seg4" />
    <origin rpy="0.0 0.0 0.0" xyz="0.0 0.0 0.2" />
    <axis xyz="0 1 0" />
    <limit effort="100" lower="-3.141592" upper="3.141592" velocity="3" />
  </joint>
  <link name="Man4Act0Seg4helper_shape">
    <visual>
      <origin rpy="0 0 0" xyz="0 0 0.0" />
      <geometry>
        <sphere radius="0.2" />
      </geometry>
      <material name="purple">
        <color rgba="0.7 0.2 0.2 1" />
      </material>
    </visual>
    <collision>
      <origin rpy="0 0 0" xyz="0 0 0.0" />
      <geometry>
        <sphere radius="0.2" />
      </geometry>
    </collision>
    <inertial>
      <mass value="2.94e-06" />
      <inertia ixx="1.52488e-05" ixy="0.0" ixz="0.0" iyy="1.52488e-05" iyz="0.0" izz="1.52488e-05" />
    </inertial>
  </link>
  <joint name="Man4Act0Seg3_to_Man4Act0Seg4_ax1helper_shape" type="fixed">
    <parent link="Man4Act0Seg3" />
    <child link="Man4Act0Seg4helper_shape" />
    <origin rpy="0.0 0.0 0.0" xyz="0.0 0.0 0.2" />
    <axis xyz="1 0 0" />
  </joint>
  <link name="Man4Act0Seg5">
    <visual>
      <origin rpy="0.0 0.0 0.0" xyz="0.0 0.0 0.1" />
      <geometry>
        <cylinder length="0.2" radius="0.2" />
      </geometry>
      <material name="purple">
        <color rgba="0.7 0.2 0.2 1" />
      </material>
    </visual>
    <collision>
      <origin rpy="0.0 0.0 0.0" xyz="0.0 0.0 0.1" />
      <geometry>
        <cylinder length="0.2" radius="0.2" />
      </geometry>
    </collision>
    <inertial>
      <mass value="0.00294" />
      <inertia ixx="0.0152488" ixy="0" ixz="0" iyy="0.0152488" iyz="0" izz="0.0152488" />
    </inertial>
  </link>
  <joint name="Man4Act0Seg4_to_Man4Act0Seg5_ax0" type="revolute">
    <parent link="Man4Act0Seg4" />
    <child link="Man4Act0Seg5" />
    <origin rpy="0.0 0.0 0.0" xyz="0.0 0.0 0.2" />
    <axis xyz="1 0 0" />
    <limit effort="100" lower="-3.141592" upper="3.141592" velocity="3" />
  </joint>
  <link name="Man4Act0Seg5helper_shape">
    <visual>
      <origin rpy="0 0 0" xyz="0 0 0.0" />
      <geometry>
        <sphere radius="0.2" />
      </geometry>
      <material name="purple">
        <color rgba="0.7 0.2 0.2 1" />
      </material>
    </visual>
    <collision>
      <origin rpy="0 0 0" xyz="0 0 0.0" />
      <geometry>
        <sphere radius="0.2" />
      </geometry>
    </collision>
    <inertial>
      <mass value="2.94e-06" />
      <inertia ixx="1.52488e-05" ixy="0.0" ixz="0.0" iyy="1.52488e-05" iyz="0.0" izz="1.52488e-05" />
    </inertial>
  </link>
  <joint name="Man4Act0Seg4_to_Man4Act0Seg5_ax0helper_shape" type="fixed">
    <parent link="Man4Act0Seg4" />
    <child link="Man4Act0Seg5helper_shape" />
    <origin rpy="0 0 0" xyz="0 0 0.2" />
    <axis xyz="1 0 0" />
  </joint>
  <link name="Man4Act0Seg6">
    <visual>
      <origin rpy="0 0 0" xyz="0 0 0.1" />
      <geometry>
        <cylinder length="0.2" radius="0.2" />
      </geometry>
      <material name="purple">
        <color rgba="0.7 0.2 0.2 1" />
      </material>
    </visual>
    <collision>
      <origin rpy="0 0 0" xyz="0 0 0.1" />
      <geometry>
        <cylinder length="0.2" radius="0.2" />
      </geometry>
    </collision>
    <inertial>
      <mass value="0.00294" />
      <inertia ixx="0.0152488" ixy="0" ixz="0" iyy="0.0152488" iyz="0" izz="0.0152488" />
    </inertial>
  </link>
  <joint name="Man4Act0Seg5_to_Man4Act0Seg6_ax1" type="revolute">
    <parent link="Man4Act0Seg5" />
    <child link="Man4Act0Seg6" />
    <origin rpy="0.0 0.0 0.0" xyz="0.0 0.0 0.2" />
    <axis xyz="0 1 0" />
    <limit effort="100" lower="-3.141592" upper="3.141592" velocity="3" />
  </joint>
  <link name="Man4Act0Seg6helper_shape">
    <visual>
      <origin rpy="0 0 0" xyz="0 0 0.0" />
      <geometry>
        <sphere radius="0.2" />
      </geometry>
      <material name="purple">
        <color rgba="0.7 0.2 0.2 1" />
      </material>
    </visual>
    <collision>
      <origin rpy="0 0 0" xyz="0 0 0.0" />
      <geometry>
        <sphere radius="0.2" />
      </geometry>
    </collision>
    <inertial>
      <mass value="2.94e-06" />
      <inertia ixx="1.52488e-05" ixy="0.0" ixz="0.0" iyy="1.52488e-05" iyz="0.0" izz="1.52488e-05" />
    </inertial>
  </link>
  <joint name="Man4Act0Seg5_to_Man4Act0Seg6_ax1helper_shape" type="fixed">
    <parent link="Man4Act0Seg5" />
    <child link="Man4Act0Seg6helper_shape" />
    <origin rpy="0.0 0.0 0.0" xyz="0.0 0.0 0.2" />
    <axis xyz="1 0 0" />
  </joint>
  <link name="Man4Act0Seg7">
    <visual>
      <origin rpy="0.0 0.0 0.0" xyz="0.0 0.0 0.1" />
      <geometry>
        <cylinder length="0.2" radius="0.2" />
      </geometry>
      <material name="purple">
        <color rgba="0.7 0.2 0.2 1" />
      </material>
    </visual>
    <collision>
      <origin rpy="0.0 0.0 0.0" xyz="0.0 0.0 0.1" />
      <geometry>
        <cylinder length="0.2" radius="0.2" />
      </geometry>
    </collision>
    <inertial>
      <mass value="0.00294" />
      <inertia ixx="0.0152488" ixy="0" ixz="0" iyy="0.0152488" iyz="0" izz="0.0152488" />
    </inertial>
  </link>
  <joint name="Man4Act0Seg6_to_Man4Act0Seg7_ax0" type="revolute">
    <parent link="Man4Act0Seg6" />
    <child link="Man4Act0Seg7" />
    <origin rpy="0.0 0.0 0.0" xyz="0.0 0.0 0.2" />
    <axis xyz="1 0 0" />
    <limit effort="100" lower="-3.141592" upper="3.141592" velocity="3" />
  </joint>
  <link name="Man4Act0Seg7helper_shape">
    <visual>
      <origin rpy="0 0 0" xyz="0 0 0.0" />
      <geometry>
        <sphere radius="0.2" />
      </geometry>
      <material name="purple">
        <color rgba="0.7 0.2 0.2 1" />
      </material>
    </visual>
    <collision>
      <origin rpy="0 0 0" xyz="0 0 0.0" />
      <geometry>
        <sphere radius="0.2" />
      </geometry>
    </collision>
    <inertial>
      <mass value="2.94e-06" />
      <inertia ixx="1.52488e-05" ixy="0.0" ixz="0.0" iyy="1.52488e-05" iyz="0.0" izz="1.52488e-05" />
    </inertial>
  </link>
  <joint name="Man4Act0Seg6_to_Man4Act0Seg7_ax0helper_shape" type="fixed">
    <parent link="Man4Act0Seg6" />
    <child link="Man4Act0Seg7helper_shape" />
    <origin rpy="0 0 0" xyz="0 0 0.2" />
    <axis xyz="1 0 0" />
  </joint>
  <link name="Man4Act0Seg8">
    <visual>
      <origin rpy="0 0 0" xyz="0 0 0.1" />
      <geometry>
        <cylinder length="0.2" radius="0.2" />
      </geometry>
      <material name="purple">
        <color rgba="0.7 0.2 0.2 1" />
      </material>
    </visual>
    <collision>
      <origin rpy="0 0 0" xyz="0 0 0.1" />
      <geometry>
        <cylinder length="0.2" radius="0.2" />
      </geometry>
    </collision>
    <inertial>
      <mass value="0.00294" />
      <inertia ixx="0.0152488" ixy="0" ixz="0" iyy="0.0152488" iyz="0" izz="0.0152488" />
    </inertial>
  </link>
  <joint name="Man4Act0Seg7_to_Man4Act0Seg8_ax1" type="revolute">
    <parent link="Man4Act0Seg7" />
    <child link="Man4Act0Seg8" />
    <origin rpy="0.0 0.0 0.0" xyz="0.0 0.0 0.2" />
    <axis xyz="0 1 0" />
    <limit effort="100" lower="-3.141592" upper="3.141592" velocity="3" />
  </joint>
  <link name="Man4Act0Seg8helper_shape">
    <visual>
      <origin rpy="0 0 0" xyz="0 0 0.0" />
      <geometry>
        <sphere radius="0.2" />
      </geometry>
      <material name="purple">
        <color rgba="0.7 0.2 0.2 1" />
      </material>
    </visual>
    <collision>
      <origin rpy="0 0 0" xyz="0 0 0.0" />
      <geometry>
        <sphere radius="0.2" />
      </geometry>
    </collision>
    <inertial>
      <mass value="2.94e-06" />
      <inertia ixx="1.52488e-05" ixy="0.0" ixz="0.0" iyy="1.52488e-05" iyz="0.0" izz="1.52488e-05" />
    </inertial>
  </link>
  <joint name="Man4Act0Seg7_to_Man4Act0Seg8_ax1helper_shape" type="fixed">
    <parent link="Man4Act0Seg7" />
    <child link="Man4Act0Seg8helper_shape" />
    <origin rpy="0.0 0.0 0.0" xyz="0.0 0.0 0.2" />
    <axis xyz="1 0 0" />
  </joint>
  <link name="Man4Act0Seg9">
    <visual>
      <origin rpy="0.0 0.0 0.0" xyz="0.0 0.0 0.1" />
      <geometry>
        <cylinder length="0.2" radius="0.2" />
      </geometry>
      <material name="purple">
        <color rgba="0.7 0.2 0.2 1" />
      </material>
    </visual>
    <collision>
      <origin rpy="0.0 0.0 0.0" xyz="0.0 0.0 0.1" />
      <geometry>
        <cylinder length="0.2" radius="0.2" />
      </geometry>
    </collision>
    <inertial>
      <mass value="0.00294" />
      <inertia ixx="0.0152488" ixy="0" ixz="0" iyy="0.0152488" iyz="0" izz="0.0152488" />
    </inertial>
  </link>
  <joint name="Man4Act0Seg8_to_Man4Act0Seg9_ax0" type="revolute">
    <parent link="Man4Act0Seg8" />
    <child link="Man4Act0Seg9" />
    <origin rpy="0.0 0.0 0.0" xyz="0.0 0.0 0.2" />
    <axis xyz="1 0 0" />
    <limit effort="100" lower="-3.141592" upper="3.141592" velocity="3" />
  </joint>
  <link name="Man4Act0Seg9helper_shape">
    <visual>
      <origin rpy="0 0 0" xyz="0 0 0.0" />
      <geometry>
        <sphere radius="0.2" />
      </geometry>
      <material name="purple">
        <color rgba="0.7 0.2 0.2 1" />
      </material>
    </visual>
    <collision>
      <origin rpy="0 0 0" xyz="0 0 0.0" />
      <geometry>
        <sphere radius="0.2" />
      </geometry>
    </collision>
    <inertial>
      <mass value="2.94e-06" />
      <inertia ixx="1.52488e-05" ixy="0.0" ixz="0.0" iyy="1.52488e-05" iyz="0.0" izz="1.52488e-05" />
    </inertial>
  </link>
  <joint name="Man4Act0Seg8_to_Man4Act0Seg9_ax0helper_shape" type="fixed">
    <parent link="Man4Act0Seg8" />
    <child link="Man4Act0Seg9helper_shape" />
    <origin rpy="0 0 0" xyz="0 0 0.2" />
    <axis xyz="1 0 0" />
  </joint>
  <link name="Man4Act0Seg10">
    <visual>
      <origin rpy="0 0 0" xyz="0 0 0.05" />
      <geometry>
        <cylinder length="0.1" radius="0.2" />
      </geometry>
      <material name="purple">
        <color rgba="0.7 0.2 0.2 1" />
      </material>
    </visual>
    <collision>
      <origin rpy="0 0 0" xyz="0 0 0.05" />
      <geometry>
        <cylinder length="0.1" radius="0.2" />
      </geometry>
    </collision>
    <inertial>
      <mass value="0.00294" />
      <inertia ixx="0.0152488" ixy="0" ixz="0" iyy="0.0152488" iyz="0" izz="0.0152488" />
    </inertial>
  </link>
  <joint name="Man4Act0Seg9_to_Man4Act0Seg10_ax1" type="revolute">
    <parent link="Man4Act0Seg9" />
    <child link="Man4Act0Seg10" />
    <origin rpy="0.0 0.0 0.0" xyz="0.0 0.0 0.2" />
    <axis xyz="0 1 0" />
    <limit effort="100" lower="-3.141592" upper="3.141592" velocity="3" />
  </joint>
  <link name="Man4Act0Seg10helper_shape">
    <visual>
      <origin rpy="0 0 0" xyz="0 0 0.0" />
      <geometry>
        <sphere radius="0.2" />
      </geometry>
      <material name="purple">
        <color rgba="0.7 0.2 0.2 1" />
      </material>
    </visual>
    <collision>
      <origin rpy="0 0 0" xyz="0 0 0.0" />
      <geometry>
        <sphere radius="0.2" />
      </geometry>
    </collision>
    <inertial>
      <mass value="2.94e-06" />
      <inertia ixx="1.52488e-05" ixy="0.0" ixz="0.0" iyy="1.52488e-05" iyz="0.0" izz="1.52488e-05" />
    </inertial>
  </link>
  <joint name="Man4Act0Seg9_to_Man4Act0Seg10_ax1helper_shape" type="fixed">
    <parent link="Man4Act0Seg9" />
    <child link="Man4Act0Seg10helper_shape" />
    <origin rpy="0.0 0.0 0.0" xyz="0.0 0.0 0.2" />
    <axis xyz="1 0 0" />
  </joint>
</robot>
